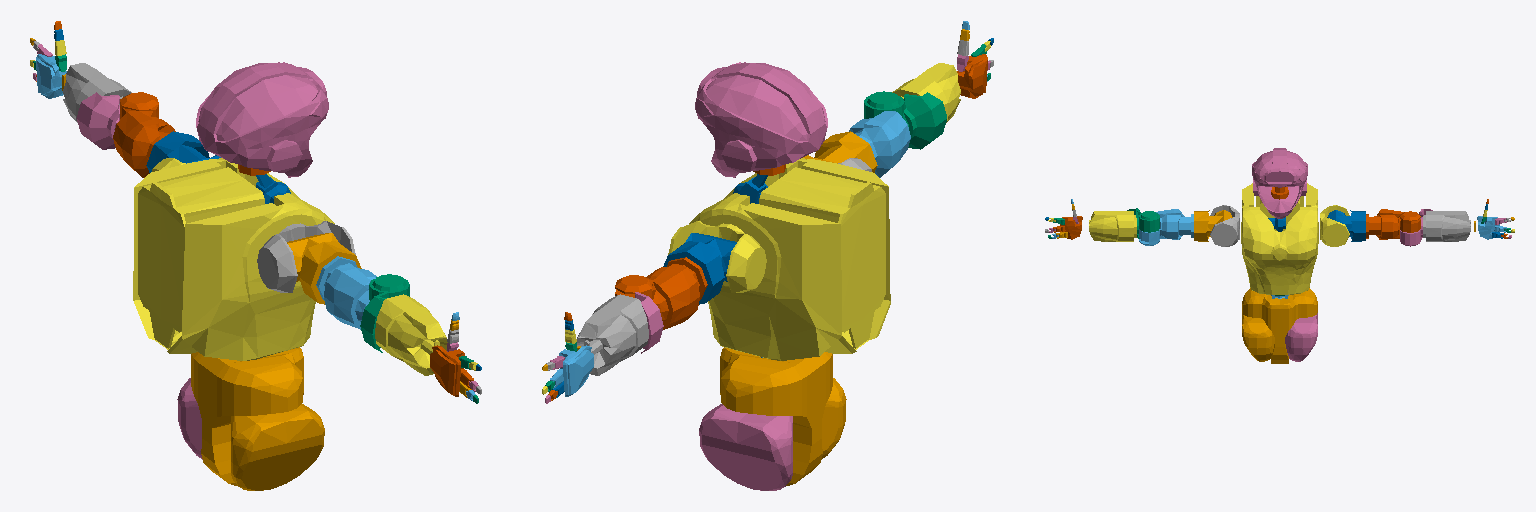
--- Facts derived from the render (not from the file) ---
3 views of the same robot in one strip: view 1: azimuth 30°, elevation 25°; view 2: azimuth 150°, elevation 25°; view 3: azimuth 270°, elevation 25° (orthographic).
Robot: valkyrie — 70 links, 69 joints (58 revolute, 11 fixed); root link pelvis; default pose: all joints at 0.
Links seen in each view (by area): view 1: torso, upperNeckPitchLink, pelvis, rightHipRollLink, rightForearmLink, leftShoulderYawLink, rightShoulderYawLink, rightShoulderPitchLink, rightShoulderRollLink, leftElbowPitchLink, leftForearmLink, rightElbowPitchLink (+5 smaller); view 2: torso, upperNeckPitchLink, pelvis, leftHipRollLink, leftForearmLink, leftShoulderYawLink, leftShoulderPitchLink, rightElbowPitchLink, rightShoulderYawLink, leftShoulderRollLink, rightForearmLink, rightShoulderRollLink (+5 smaller); view 3: torso, upperNeckPitchLink, pelvis, leftForearmLink, rightForearmLink, leftShoulderYawLink, rightShoulderYawLink, rightHipRollLink, leftHipRollLink, rightShoulderPitchLink, leftShoulderPitchLink, rightShoulderRollLink (+1 smaller).
Boxes of the visible links, bbox=[...] form: torso: bbox=[133, 158, 334, 360]; upperNeckPitchLink: bbox=[196, 62, 328, 177]; pelvis: bbox=[191, 347, 303, 485]; rightHipRollLink: bbox=[231, 404, 324, 490]; rightForearmLink: bbox=[375, 294, 447, 375]; leftShoulderYawLink: bbox=[113, 92, 175, 177]; rightShoulderYawLink: bbox=[316, 256, 376, 329]; rightShoulderPitchLink: bbox=[257, 221, 355, 292]; rightShoulderRollLink: bbox=[287, 233, 361, 304]; leftElbowPitchLink: bbox=[76, 92, 119, 149]; leftForearmLink: bbox=[63, 63, 131, 122]; rightElbowPitchLink: bbox=[360, 274, 409, 352]; torso: bbox=[689, 158, 890, 360]; upperNeckPitchLink: bbox=[695, 62, 827, 177]; pelvis: bbox=[720, 347, 832, 485]; leftHipRollLink: bbox=[699, 404, 792, 490]; leftForearmLink: bbox=[577, 294, 648, 375]; leftShoulderYawLink: bbox=[615, 257, 707, 329]; leftShoulderPitchLink: bbox=[668, 221, 766, 292]; rightElbowPitchLink: bbox=[864, 91, 946, 149]; rightShoulderYawLink: bbox=[849, 111, 910, 177]; leftShoulderRollLink: bbox=[663, 233, 736, 304]; rightForearmLink: bbox=[892, 63, 960, 122]; rightShoulderRollLink: bbox=[803, 131, 877, 172]; torso: bbox=[1241, 183, 1318, 294]; upperNeckPitchLink: bbox=[1252, 148, 1307, 218]; pelvis: bbox=[1242, 288, 1317, 363]; leftForearmLink: bbox=[1423, 211, 1470, 241]; rightForearmLink: bbox=[1089, 211, 1136, 241]; leftShoulderYawLink: bbox=[1366, 209, 1420, 239]; rightShoulderYawLink: bbox=[1139, 209, 1193, 245]; rightHipRollLink: bbox=[1242, 313, 1274, 361]; leftHipRollLink: bbox=[1285, 313, 1317, 361]; rightShoulderPitchLink: bbox=[1210, 205, 1239, 246]; leftShoulderPitchLink: bbox=[1320, 205, 1349, 246]; rightShoulderRollLink: bbox=[1194, 210, 1232, 241].
Bounding box of the posed robot: 0.4375 × 2.09 × 1.04 m (x, y, z).
Meshes: 57 distinct files referenced, 48 mesh visuals loaded (48 Collada DAE); not drawn: 11 (reference not matched to a file when rendering).

The robot description file, URDF, robot "valkyrie":
<?xml version="1.0" ?>
<!-- =================================================================================== -->
<!-- |    This document was autogenerated by xacro from ../model/robots/valkyrie_B_hw.xacro | -->
<!-- |    EDITING THIS FILE BY HAND IS NOT RECOMMENDED                                 | -->
<!-- =================================================================================== -->
<robot name="valkyrie" xmlns:xacro="http://ros.org/wiki/xacro">
  <link name="pelvis">
    <inertial>
      <mass value="8.22"/>
      <origin rpy="0 0 0" xyz="-0.00532 -0.003512 -0.0036"/>
      <inertia ixx="0.11866378" ixy="-0.000143482" ixz="0.003271293" iyy="0.097963425" iyz="0.002159545" izz="0.083854638"/>
    </inertial>
    <visual>
      <geometry>
        <mesh filename="package://val_description/model/meshes/pelvis/pelvis.dae"/>
      </geometry>
      <origin rpy="0.0 0.0 0.0" xyz="0.0 0.0 0.0"/>
      <material name="White"/>
    </visual>
    <collision>
      <geometry>
        <mesh filename="package://val_description/model/meshes/pelvis/pelvis.dae"/>
      </geometry>
      <origin rpy="0 0 0" xyz="0 0 0"/>
    </collision>
  </link>
  <link name="torsoYawLink">
    <inertial>
      <mass value="0.5"/>
      <origin rpy="0 0 0" xyz="0.000000 0.000000 -0.010000"/>
      <inertia ixx="0.000608427" ixy="-1.172e-06" ixz="1.647e-06" iyy="0.000620328" iyz="-2.33e-07" izz="0.001078108"/>
    </inertial>
    <visual>
      <geometry>
        <mesh filename="package://val_description/model/meshes/torso/torsoyaw.dae"/>
      </geometry>
      <origin rpy="0.0 0.0 0.0" xyz="0.0 0.0 0.0"/>
      <material name="White"/>
    </visual>
    <collision>
      <geometry>
        <mesh filename="package://val_description/model/meshes/torso/torsoyaw.dae"/>
      </geometry>
      <origin rpy="0 0 0" xyz="0 0 0"/>
    </collision>
  </link>
  <link name="torsoPitchLink">
    <inertial>
      <mass value="0.1"/>
      <origin rpy="0 0 0" xyz="0.000000 0.000000  0.005000"/>
      <inertia ixx="3.032e-05" ixy="0.0" ixz="-1.145e-06" iyy="2.1274e-05" iyz="0.0" izz="2.8285e-05"/>
    </inertial>
    <visual>
      <geometry>
        <mesh filename="package://val_description/model/meshes/torso/torsopitch.dae"/>
      </geometry>
      <origin rpy="0.0 0.0 0.0" xyz="0.0 0.0 0.0"/>
      <material name="White"/>
    </visual>
    <collision>
      <geometry>
        <mesh filename="package://val_description/model/meshes/torso/torsopitch.dae"/>
      </geometry>
      <origin rpy="0 0 0" xyz="0 0 0"/>
    </collision>
  </link>
  <link name="torso">
    <inertial>
      <mass value="39.47"/>
      <origin rpy="0 0 0" xyz="-0.095548 -0.003337 0.243098"/>
      <inertia ixx="0.87326933" ixy="9.9563e-05" ixz="0.061345211" iyy="1.0108485" iyz="0.00181849" izz="0.77839801"/>
    </inertial>
    <visual>
      <geometry>
        <mesh filename="package://val_description/model/meshes/torso/torso.dae"/>
      </geometry>
      <origin rpy="0.0 0.0 0.0" xyz="0.0 0.0 0.0"/>
      <material name="White"/>
    </visual>
    <collision>
      <geometry>
        <mesh filename="package://val_description/model/meshes/torso/torso.dae"/>
      </geometry>
      <origin rpy="0 0 0" xyz="0 0 0"/>
    </collision>
  </link>
  <joint name="torsoYaw" type="revolute">
    <origin rpy="0.0 0.0 0.0" xyz="0.0 0.0 0.0"/>
    <axis xyz="0 0 1"/>
    <parent link="pelvis"/>
    <child link="torsoYawLink"/>
    <limit effort="190" lower="-1.329" upper="1.181" velocity="5.89"/>
    <controller_gains Kd="400" Kp="20000"/>
    <dynamics damping="0.1" friction="0.0"/>
  </joint>
  <gazebo reference="torsoYaw">
    <provideFeedback>1</provideFeedback>
    <implicitSpringDamper>1</implicitSpringDamper>
  </gazebo>
  <joint name="torsoPitch" type="revolute">
    <origin rpy="0.0 0.0 0.0" xyz="0.04191 0.0 0.0"/>
    <axis xyz="0 1 0"/>
    <parent link="torsoYawLink"/>
    <child link="torsoPitchLink"/>
    <limit effort="150" lower="-0.13" upper="0.666" velocity="9"/>
    <controller_gains Kd="400" Kp="20000"/>
    <dynamics damping="0.1" friction="0.0"/>
  </joint>
  <gazebo reference="torsoPitch">
    <provideFeedback>1</provideFeedback>
    <implicitSpringDamper>1</implicitSpringDamper>
  </gazebo>
  <joint name="torsoRoll" type="revolute">
    <origin rpy="0.0 0.0 0.0" xyz="0.0 0.0 0.0203"/>
    <axis xyz="1 0 0"/>
    <parent link="torsoPitchLink"/>
    <child link="torso"/>
    <limit effort="150" lower="-0.23" upper="0.255" velocity="9"/>
    <controller_gains Kd="400" Kp="20000"/>
    <dynamics damping="0.1" friction="0.0"/>
  </joint>
  <gazebo reference="torsoRoll">
    <provideFeedback>1</provideFeedback>
    <implicitSpringDamper>1</implicitSpringDamper>
  </gazebo>
  <link name="lowerNeckPitchLink">
    <inertial>
      <mass value="1.05"/>
      <origin rpy="0 0 0" xyz="-0.020000 0.000000  0.040000"/>
      <inertia ixx="0.001470716" ixy="-0.000126021" ixz="0.000632521" iyy="0.001851919" iyz="0.000243012" izz="0.000832117"/>
    </inertial>
    <visual>
      <geometry>
        <mesh filename="package://val_description/model/meshes/head/neckj1.dae"/>
      </geometry>
      <origin rpy="0.0 0.0 0.0" xyz="0.0 0.0 0.0"/>
      <material name="White"/>
    </visual>
    <collision>
      <geometry>
        <mesh filename="package://val_description/model/meshes/head/neckj1.dae"/>
      </geometry>
      <origin rpy="0 0 0" xyz="0 0 0"/>
    </collision>
  </link>
  <link name="neckYawLink">
    <inertial>
      <mass value="1.4"/>
      <origin rpy="0 0 0" xyz="-0.030000  -0.010000 0.150000"/>
      <inertia ixx="0.001997698" ixy="-0.000180062" ixz="0.000723677" iyy="0.002919928" iyz="0.000246467" izz="0.002119751"/>
    </inertial>
    <visual>
      <geometry>
        <mesh filename="package://val_description/model/meshes/head/neckj2.dae"/>
      </geometry>
      <origin rpy="0.0 0.0 0.0" xyz="0.0 0.0 0.0"/>
      <material name="White"/>
    </visual>
    <collision>
      <geometry>
        <mesh filename="package://val_description/model/meshes/head/neckj2.dae"/>
      </geometry>
      <origin rpy="0 0 0" xyz="0 0 0"/>
    </collision>
  </link>
  <link name="upperNeckPitchLink">
    <inertial>
      <mass value="4.59"/>
      <origin rpy="0 0 0" xyz="0.100912 0.005783 0.034787"/>
      <inertia ixx="0.039847525" ixy="-0.000470418" ixz="-0.002829842" iyy="0.041418564" iyz="-0.000782564" izz="0.036841236"/>
    </inertial>
    <visual>
      <geometry>
        <mesh filename="package://val_description/model/meshes/head/head_multisense_no_visor.dae"/>
      </geometry>
      <origin rpy="0.0 0.0 0.0" xyz="0.0 0.0 0.0"/>
      <material name="White"/>
    </visual>
    <collision>
      <geometry>
        <mesh filename="package://val_description/model/meshes/head/head_multisense_no_visor.dae"/>
      </geometry>
      <origin rpy="0 0 0" xyz="0 0 0"/>
    </collision>
  </link>
  <joint name="lowerNeckPitch" type="revolute">
    <origin rpy="0.0 0.0 0.0" xyz="0.0203518 0.0 0.33845"/>
    <axis xyz="0 1 0"/>
    <parent link="torso"/>
    <child link="lowerNeckPitchLink"/>
    <limit effort="26" lower="0" upper="1.162" velocity="5"/>
    <controller_gains Kd="0" Kp="20000"/>
    <dynamics damping="0.1" friction="0.0"/>
  </joint>
  <gazebo reference="lowerNeckPitch">
    <provideFeedback>1</provideFeedback>
    <implicitSpringDamper>1</implicitSpringDamper>
  </gazebo>
  <joint name="neckYaw" type="revolute">
    <origin rpy="0.0 0.0 0.0" xyz="-0.051924 0.0 0.0"/>
    <axis xyz="0 0 1"/>
    <parent link="lowerNeckPitchLink"/>
    <child link="neckYawLink"/>
    <limit effort="26" lower="-1.04719755" upper="1.04719755" velocity="5"/>
    <controller_gains Kd="0" Kp="20000"/>
    <dynamics damping="0.1" friction="0.0"/>
  </joint>
  <gazebo reference="neckYaw">
    <provideFeedback>1</provideFeedback>
    <implicitSpringDamper>1</implicitSpringDamper>
  </gazebo>
  <joint name="upperNeckPitch" type="revolute">
    <origin rpy="0.0 0.0 0.0" xyz="-0.06 0 0.195997"/>
    <axis xyz="0 1 0"/>
    <parent link="neckYawLink"/>
    <child link="upperNeckPitchLink"/>
    <limit effort="26" lower="-0.872" upper="0.0" velocity="5"/>
    <controller_gains Kd="0" Kp="20000"/>
    <dynamics damping="0.1" friction="0.0"/>
  </joint>
  <gazebo reference="upperNeckPitch">
    <provideFeedback>1</provideFeedback>
    <implicitSpringDamper>1</implicitSpringDamper>
  </gazebo>
  <link name="rightShoulderPitchLink">
    <inertial>
      <mass value="2.65"/>
      <origin rpy="0 0 0" xyz="-0.012000 -0.251 0.000000"/>
      <inertia ixx="0.013718167" ixy="0.0" ixz="0.0" iyy="0.010502833" iyz="0.0" izz="0.014806433"/>
    </inertial>
    <visual>
      <geometry>
        <mesh filename="package://val_description/model/meshes/arms/aj1_right.dae"/>
      </geometry>
      <origin rpy="0.0 0.0 0.0" xyz="0.0 0.0 0.0"/>
      <material name="Gold"/>
    </visual>
    <collision>
      <geometry>
        <mesh filename="package://val_description/model/meshes/arms/aj1_right.dae"/>
      </geometry>
      <origin rpy="0 0 0" xyz="0 0 0"/>
    </collision>
  </link>
  <link name="rightShoulderRollLink">
    <inertial>
      <mass value="3.97"/>
      <origin rpy="0 0 0" xyz="-0.008513 -0.02068 0.001088"/>
      <inertia ixx="0.009494119" ixy="-6.7294e-05" ixz="3.7177e-05" iyy="0.007680534" iyz="8.874e-06" izz="0.011454772"/>
    </inertial>
    <visual>
      <geometry>
        <mesh filename="package://val_description/model/meshes/arms/aj2_right.dae"/>
      </geometry>
      <origin rpy="0.0 0.0 0.0" xyz="0.0 0.0 0.0"/>
      <material name="White"/>
    </visual>
    <collision>
      <geometry>
        <mesh filename="package://val_description/model/meshes/arms/aj2_right.dae"/>
      </geometry>
      <origin rpy="0 0 0" xyz="0 0 0"/>
    </collision>
  </link>
  <link name="rightShoulderYawLink">
    <inertial>
      <mass value="3.085"/>
      <origin rpy="0 0 0" xyz="-0.004304 -0.209832 -0.007295"/>
      <inertia ixx="0.039355177" ixy="0.007827077" ixz="0.000753947" iyy="0.004905765" iyz="0.002723873" izz="0.041879481"/>
    </inertial>
    <visual>
      <geometry>
        <mesh filename="package://val_description/model/meshes/arms/aj3_right.dae"/>
      </geometry>
      <origin rpy="0.0 0.0 0.0" xyz="0.0 0.0 0.0"/>
      <material name="White"/>
    </visual>
    <collision>
      <geometry>
        <mesh filename="package://val_description/model/meshes/arms/aj3_right.dae"/>
      </geometry>
      <origin rpy="0 0 0" xyz="0 0 0"/>
    </collision>
  </link>
  <link name="rightElbowPitchLink">
    <inertial>
      <mass value="1.83"/>
      <origin rpy="0 0 0" xyz="-0.020344 -0.014722 -0.022300"/>
      <inertia ixx="0.004285137" ixy="0.000408334" ixz="-0.003326627" iyy="0.008440601" iyz="0.000140731" izz="0.007469454"/>
    </inertial>
    <visual>
      <geometry>
        <mesh filename="package://val_description/model/meshes/arms/aj4_right.dae"/>
      </geometry>
      <origin rpy="0.0 0.0 0.0" xyz="0.0 0.0 0.0"/>
      <material name="Gold"/>
    </visual>
    <collision>
      <geometry>
        <mesh filename="package://val_description/model/meshes/arms/aj4_right.dae"/>
      </geometry>
      <origin rpy="0 0 0" xyz="0 0 0"/>
    </collision>
  </link>
  <joint name="rightShoulderPitch" type="revolute">
    <origin rpy="0.0 0.0 0.0" xyz="-0.0316 0.0 0.2984"/>
    <axis xyz="0 1 0"/>
    <parent link="torso"/>
    <child link="rightShoulderPitchLink"/>
    <limit effort="190" lower="-2.85" upper="2.0" velocity="5.89"/>
    <controller_gains Kd="400" Kp="20000"/>
    <dynamics damping="0.1" friction="0.0"/>
  </joint>
  <gazebo reference="rightShoulderPitch">
    <provideFeedback>1</provideFeedback>
    <implicitSpringDamper>1</implicitSpringDamper>
  </gazebo>
  <joint name="rightShoulderRoll" type="revolute">
    <origin rpy="0.0 0.0 0.0" xyz="0.0 -0.2499 0.0"/>
    <axis xyz="1 0 0"/>
    <parent link="rightShoulderPitchLink"/>
    <child link="rightShoulderRollLink"/>
    <limit effort="190" lower="-1.266" upper="1.519" velocity="5.89"/>
    <controller_gains Kd="400" Kp="20000"/>
    <dynamics damping="0.1" friction="0.0"/>
  </joint>
  <gazebo reference="rightShoulderRoll">
    <provideFeedback>1</provideFeedback>
    <implicitSpringDamper>1</implicitSpringDamper>
  </gazebo>
  <joint name="rightShoulderYaw" type="revolute">
    <origin rpy="0.0 0.0 0.0" xyz="0.0 0.0 0.0"/>
    <axis xyz="0 1 0"/>
    <parent link="rightShoulderRollLink"/>
    <child link="rightShoulderYawLink"/>
    <limit effort="65" lower="-3.1" upper="2.18" velocity="11.5"/>
    <controller_gains Kd="400" Kp="20000"/>
    <dynamics damping="0.1" friction="0.0"/>
  </joint>
  <gazebo reference="rightShoulderYaw">
    <provideFeedback>1</provideFeedback>
    <implicitSpringDamper>1</implicitSpringDamper>
  </gazebo>
  <joint name="rightElbowPitch" type="revolute">
    <origin rpy="0.0 0.0 0.0" xyz="0.0254 -0.33 0.0"/>
    <axis xyz="0 0 1"/>
    <parent link="rightShoulderYawLink"/>
    <child link="rightElbowPitchLink"/>
    <limit effort="65" lower="-0.12" upper="2.174" velocity="11.5"/>
    <controller_gains Kd="400" Kp="20000"/>
    <dynamics damping="0.1" friction="0.0"/>
  </joint>
  <gazebo reference="rightElbowPitch">
    <provideFeedback>1</provideFeedback>
    <implicitSpringDamper>1</implicitSpringDamper>
  </gazebo>
  <link name="rightForearmLink">
    <inertial>
      <mass value="2.476"/>
      <origin rpy="0 0 0" xyz="0.015000 -0.13 0.019564"/>
      <inertia ixx="0.015011" ixy="-0.001300853" ixz="-0.000727141" iyy="0.005071567" iyz="-0.001695416" izz="0.011365657"/>
    </inertial>
    <visual>
      <geometry>
        <mesh filename="package://val_description/model/meshes/arms/aj5_right.dae"/>
      </geometry>
      <origin rpy="0.0 0.0 0.0" xyz="0.0 0.0 0.0"/>
      <material name="White"/>
    </visual>
    <collision>
      <geometry>
        <mesh filename="package://val_description/model/meshes/arms/aj5_right.dae"/>
      </geometry>
      <origin rpy="0 0 0" xyz="0 0 0"/>
    </collision>
  </link>
  <link name="rightWristRollLink">
    <inertial>
      <mass value="0.14"/>
      <origin rpy="0 0 0" xyz="0 -0.0 0"/>
      <inertia ixx="3.0251e-05" ixy="-1.25e-07" ixz="-3.6e-08" iyy="3.772e-05" iyz="0.0" izz="9.395e-06"/>
    </inertial>
    <visual>
      <geometry>
        <mesh filename="package://val_description/model/meshes/arms/aj6_right.dae"/>
      </geometry>
      <origin rpy="0.0 0.0 0.0" xyz="0.0 0.0 0.0"/>
      <material name="White"/>
    </visual>
    <collision>
      <geometry>
        <mesh filename="package://val_description/model/meshes/arms/aj6_right.dae"/>
      </geometry>
      <origin rpy="0 0 0" xyz="0 0 0"/>
    </collision>
  </link>
  <link name="rightPalm">
    <inertial>
      <mass value="0.712"/>
      <origin rpy="0 0 0" xyz="0.002954 -0.052034 -0.000236"/>
      <inertia ixx="0.000943493" ixy="3.4393e-05" ixz="-3.8828e-05" iyy="0.000711024" iyz="2.3429e-05" izz="0.000610199"/>
    </inertial>
    <visual>
      <geometry>
        <mesh filename="package://val_description/model/meshes/arms/palm_right.dae"/>
      </geometry>
      <origin rpy="0.0 0.0 0.0" xyz="0.0 0.0 0.0"/>
      <material name="Gold"/>
    </visual>
    <collision>
      <geometry>
        <mesh filename="package://val_description/model/meshes/arms/palm_right.dae"/>
      </geometry>
      <origin rpy="0 0 0" xyz="0 0 0"/>
    </collision>
  </link>
  <joint name="rightForearmYaw" type="revolute">
    <origin rpy="0.0 0.0 0.0" xyz="-0.0254 0 0"/>
    <axis xyz="0 1 0"/>
    <parent link="rightElbowPitchLink"/>
    <child link="rightForearmLink"/>
    <limit effort="26" lower="-2.019" upper="3.14" velocity="5"/>
    <controller_gains Kd="0" Kp="20000"/>
    <dynamics damping="0.1" friction="0.0"/>
  </joint>
  <gazebo reference="rightForearmYaw">
    <provideFeedback>1</provideFeedback>
    <implicitSpringDamper>1</implicitSpringDamper>
  </gazebo>
  <joint name="rightWristRoll" type="revolute">
    <origin rpy="0.0 0.0 0.0" xyz="0.0 -0.2871 0.0"/>
    <axis xyz="1 0 0"/>
    <parent link="rightForearmLink"/>
    <child link="rightWristRollLink"/>
    <limit effort="14" lower="-0.625" upper="0.62" velocity="1"/>
    <controller_gains Kd="400" Kp="20000"/>
    <dynamics damping="0.1" friction="0.0"/>
  </joint>
  <gazebo reference="rightWristRoll">
    <provideFeedback>1</provideFeedback>
    <implicitSpringDamper>1</implicitSpringDamper>
  </gazebo>
  <joint name="rightWristPitch" type="revolute">
    <origin rpy="0.0 0.0 0.0" xyz="0.0 0.0 0.0"/>
    <axis xyz="0 0 1"/>
    <parent link="rightWristRollLink"/>
    <child link="rightPalm"/>
    <limit effort="14" lower="-0.49" upper="0.36" velocity="1"/>
    <controller_gains Kd="400" Kp="20000"/>
    <dynamics damping="0.1" friction="0.0"/>
  </joint>
  <gazebo reference="rightWristPitch">
    <provideFeedback>1</provideFeedback>
    <implicitSpringDamper>1</implicitSpringDamper>
  </gazebo>
  <link name="rightThumbRollLink">
    <inertial>
      <mass value="0.017"/>
      <origin rpy="0 0 0" xyz="0 -0.0 0.01"/>
      <inertia ixx="2.7778767e-06" ixy="5.6718533e-09" ixz="-9.5523207e-08" iyy="3.5462642e-06" iyz="3.663718e-08" izz="1.3553297e-06"/>
    </inertial>
    <visual>
      <geometry>
        <mesh filename="package://val_description/model/meshes/fingers/thumbj1_right.dae"/>
      </geometry>
      <origin rpy="0.0 0.0 0.0" xyz="0.0 0.0 0.0"/>
      <material name="Gold"/>
    </visual>
    <collision>
      <geometry>
        <mesh filename="package://val_description/model/meshes/fingers/thumbj1_right.dae"/>
      </geometry>
      <origin rpy="0 0 0" xyz="0 0 0"/>
    </collision>
  </link>
  <link name="rightThumbPitch1Link">
    <inertial>
      <mass value="0.02"/>
      <origin rpy="0 0 0" xyz="0.0 -0.005 0.02"/>
      <inertia ixx="4.239e-06" ixy="0.0" ixz="-0.0" iyy="4.582e-06" iyz="0.0" izz="1.47e-06"/>
    </inertial>
    <visual>
      <geometry>
        <mesh filename="package://val_description/model/meshes/fingers/thumbj2_right.dae"/>
      </geometry>
      <origin rpy="0.0 0.0 0.0" xyz="0.0 0.0 0.0"/>
      <material name="Gold"/>
    </visual>
    <collision>
      <geometry>
        <mesh filename="package://val_description/model/meshes/fingers/thumbj2_right.dae"/>
      </geometry>
      <origin rpy="0 0 0" xyz="0 0 0"/>
    </collision>
  </link>
  <link name="rightThumbPitch2Link">
    <inertial>
      <mass value="0.013"/>
      <origin rpy="0 0 0" xyz="0 -0.004 0.017"/>
      <inertia ixx="1.266e-06" ixy="0.0" ixz="-0.0" iyy="1.503e-06" iyz="-0.0" izz="6.99e-07"/>
    </inertial>
    <visual>
      <geometry>
        <mesh filename="package://val_description/model/meshes/fingers/thumbj3_right.dae"/>
      </geometry>
      <origin rpy="0.0 0.0 0.0" xyz="0.0 0.0 0.0"/>
      <material name="Gold"/>
    </visual>
    <collision>
      <geometry>
        <mesh filename="package://val_description/model/meshes/fingers/thumbj3_right.dae"/>
      </geometry>
      <origin rpy="0 0 0" xyz="0 0 0"/>
    </collision>
  </link>
  <link name="rightThumbPitch3Link">
    <inertial>
      <mass value="0.006"/>
      <origin rpy="0 0 0" xyz="0 -0.004 0.01"/>
      <inertia ixx="3.22e-07" ixy="0.0" ixz="0.0" iyy="4.06e-07" iyz="0.0" izz="2.1e-07"/>
    </inertial>
    <visual>
      <geometry>
        <mesh filename="package://val_description/model/meshes/fingers/thumbj4_right.dae"/>
      </geometry>
      <origin rpy="0.0 0.0 0.0" xyz="0.0 0.0 0.0"/>
      <material name="Gold"/>
    </visual>
    <collision>
      <geometry>
        <mesh filename="package://val_description/model/meshes/fingers/thumbj4_right.dae"/>
      </geometry>
      <origin rpy="0 0 0" xyz="0 0 0"/>
    </collision>
  </link>
  <joint name="rightThumbRoll" type="revolute">
    <origin rpy="0.3491 0.0 0.0" xyz="0.0049 -0.0351 0.0228"/>
    <axis xyz="0 1 0"/>
    <parent link="rightPalm"/>
    <child link="rightThumbRollLink"/>
    <limit effort="10" lower="0.0" upper="2.356" velocity="1"/>
    <dynamics damping="1.0" friction="0.0"/>
  </joint>
  <gazebo reference="rightThumbRoll">
    <provideFeedback>1</provideFeedback>
    <implicitSpringDamper>1</implicitSpringDamper>
  </gazebo>
  <joint name="rightThumbPitch1" type="revolute">
    <origin rpy="-0.3491 0.0 0.0" xyz="0.0 0.0 0.0229"/>
    <axis xyz="1 0 0"/>
    <parent link="rightThumbRollLink"/>
    <child link="rightThumbPitch1Link"/>
    <limit effort="10" lower="0.0" upper="1.658" velocity="1"/>
    <dynamics damping="1.0" friction="0.0"/>
  </joint>
  <gazebo reference="rightThumbPitch1">
    <provideFeedback>1</provideFeedback>
    <implicitSpringDamper>1</implicitSpringDamper>
  </gazebo>
  <joint name="rightThumbPitch2" type="revolute">
    <origin rpy="0.0 0.0 0.0" xyz="0.0 -0.0066 0.0375"/>
    <axis xyz="1 0 0"/>
    <parent link="rightThumbPitch1Link"/>
    <child link="rightThumbPitch2Link"/>
    <limit effort="10" lower="0.0" upper="1.92" velocity="1"/>
    <dynamics damping="1.0" friction="0.0"/>
  </joint>
  <gazebo reference="rightThumbPitch2">
    <provideFeedback>1</provideFeedback>
    <implicitSpringDamper>1</implicitSpringDamper>
  </gazebo>
  <joint name="rightThumbPitch3" type="revolute">
    <origin rpy="0.0 0.0 0.0" xyz="0.0 -0.0049 0.0275"/>
    <axis xyz="1 0 0"/>
    <parent link="rightThumbPitch2Link"/>
    <child link="rightThumbPitch3Link"/>
    <limit effort="10" lower="0.0" upper="1.57" velocity="1"/>
    <dynamics damping="1.0" friction="0.0"/>
  </joint>
  <gazebo reference="rightThumbPitch3">
    <provideFeedback>1</provideFeedback>
    <implicitSpringDamper>1</implicitSpringDamper>
  </gazebo>
  <link name="rightIndexFingerPitch1Link">
    <inertial>
      <mass value="0.02"/>
      <origin rpy="0 0 0" xyz="0 -0.02 0"/>
      <inertia ixx="4.232e-06" ixy="-6e-08" ixz="-8e-09" iyy="1.215e-06" iyz="-7e-09" izz="3.892e-06"/>
    </inertial>
    <visual>
      <geometry>
        <mesh filename="package://val_description/model/meshes/fingers/indexj1_right.dae"/>
      </geometry>
      <origin rpy="0.0 0.0 0.0" xyz="0.0 0.0 0.0"/>
      <material name="Gold"/>
    </visual>
    <collision>
      <geometry>
        <mesh filename="package://val_description/model/meshes/fingers/indexj1_right.dae"/>
      </geometry>
      <origin rpy="0 0 0" xyz="0 0 0"/>
    </collision>
  </link>
  <link name="rightIndexFingerPitch2Link">
    <inertial>
      <mass value="0.018"/>
      <origin rpy="0 0 0" xyz="0 -0.013 0"/>
      <inertia ixx="1.562e-06" ixy="-1.7e-08" ixz="-1.3e-08" iyy="7.22e-07" iyz="3.1e-08" izz="1.255e-06"/>
    </inertial>
    <visual>
      <geometry>
        <mesh filename="package://val_description/model/meshes/fingers/indexj2_right.dae"/>
      </geometry>
      <origin rpy="0.0 0.0 0.0" xyz="0.0 0.0 0.0"/>
      <material name="Gold"/>
    </visual>
    <collision>
      <geometry>
        <mesh filename="package://val_description/model/meshes/fingers/indexj2_right.dae"/>
      </geometry>
      <origin rpy="0 0 0" xyz="0 0 0"/>
    </collision>
  </link>
  <link name="rightIndexFingerPitch3Link">
    <inertial>
      <mass value="0.01"/>
      <origin rpy="0 0 0" xyz="0 -0.01 0"/>
      <inertia ixx="6.02e-07" ixy="-2.4e-08" ixz="0.0" iyy="2.09e-07" iyz="1.7e-08" izz="5.02e-07"/>
    </inertial>
    <visual>
      <geometry>
        <mesh filename="package://val_description/model/meshes/fingers/indexj3_right.dae"/>
      </geometry>
      <origin rpy="0.0 0.0 0.0" xyz="0.0 0.0 0.0"/>
      <material name="Gold"/>
    </visual>
    <collision>
      <geometry>
        <mesh filename="package://val_description/model/meshes/fingers/indexj3_right.dae"/>
      </geometry>
      <origin rpy="0 0 0" xyz="0 0 0"/>
    </collision>
  </link>
  <joint name="rightIndexFingerPitch1" type="revolute">
    <origin rpy="-0.1745 0.0 0.0" xyz="0.0022 -0.0976 0.0235"/>
    <axis xyz="0 0 1"/>
    <parent link="rightPalm"/>
    <child link="rightIndexFingerPitch1Link"/>
    <limit effort="10" lower="0.0" upper="1.57" velocity="1"/>
    <dynamics damping="1.0" friction="0.0"/>
  </joint>
  <gazebo reference="rightIndexFingerPitch1">
    <provideFeedback>1</provideFeedback>
    <implicitSpringDamper>1</implicitSpringDamper>
  </gazebo>
  <joint name="rightIndexFingerPitch2" type="revolute">
    <origin rpy="0.0 0.0 0.0" xyz="0.0 -0.0381 0.0"/>
    <axis xyz="0 0 1"/>
    <parent link="rightIndexFingerPitch1Link"/>
    <child link="rightIndexFingerPitch2Link"/>
    <limit effort="10" lower="0.0" upper="1.658" velocity="1"/>
    <dynamics damping="1.0" friction="0.0"/>
  </joint>
  <gazebo reference="rightIndexFingerPitch2">
    <provideFeedback>1</provideFeedback>
    <implicitSpringDamper>1</implicitSpringDamper>
  </gazebo>
  <joint name="rightIndexFingerPitch3" type="revolute">
    <origin rpy="0.0 0.0 0.0" xyz="0.0 -0.0229 0"/>
    <axis xyz="0 0 1"/>
    <parent link="rightIndexFingerPitch2Link"/>
    <child link="rightIndexFingerPitch3Link"/>
    <limit effort="10" lower="0.0" upper="1.92" velocity="1"/>
    <dynamics damping="1.0" friction="0.0"/>
  </joint>
  <gazebo reference="rightIndexFingerPitch3">
    <provideFeedback>1</provideFeedback>
    <implicitSpringDamper>1</implicitSpringDamper>
  </gazebo>
  <link name="rightMiddleFingerPitch1Link">
    <inertial>
      <mass value="0.02"/>
      <origin rpy="0 0 0" xyz="0 -0.02 0"/>
      <inertia ixx="5.148e-06" ixy="-4.2e-08" ixz="-1.1e-08" iyy="1.322e-06" iyz="-4e-09" izz="4.592e-06"/>
    </inertial>
    <visual>
      <geometry>
        <mesh filename="package://val_description/model/meshes/fingers/middlej1_right.dae"/>
      </geometry>
      <origin rpy="0.0 0.0 0.0" xyz="0.0 0.0 0.0"/>
      <material name="Gold"/>
    </visual>
    <collision>
      <geometry>
        <mesh filename="package://val_description/model/meshes/fingers/middlej1_right.dae"/>
      </geometry>
      <origin rpy="0 0 0" xyz="0 0 0"/>
    </collision>
  </link>
  <link name="rightMiddleFingerPitch2Link">
    <inertial>
      <mass value="0.011"/>
      <origin rpy="0 0 0" xyz="0 -0.013 0"/>
      <inertia ixx="1.97e-06" ixy="3.4e-08" ixz="-1.1e-08" iyy="5.54e-07" iyz="-7.8e-08" izz="2.272e-06"/>
    </inertial>
    <visual>
      <geometry>
        <mesh filename="package://val_description/model/meshes/fingers/middlej2_right.dae"/>
      </geometry>
      <origin rpy="0.0 0.0 0.0" xyz="0.0 0.0 0.0"/>
      <material name="Gold"/>
    </visual>
    <collision>
      <geometry>
        <mesh filename="package://val_description/model/meshes/fingers/middlej2_right.dae"/>
      </geometry>
      <origin rpy="0 0 0" xyz="0 0 0"/>
    </collision>
  </link>
  <link name="rightMiddleFingerPitch3Link">
    <inertial>
      <mass value="0.006"/>
      <origin rpy="0 0 0" xyz="0 -0.01 0"/>
      <inertia ixx="3.96e-07" ixy="-9e-09" ixz="-1e-09" iyy="1.6e-07" iyz="1.6e-08" izz="3.03e-07"/>
    </inertial>
    <visual>
      <geometry>
        <mesh filename="package://val_description/model/meshes/fingers/middlej3_right.dae"/>
      </geometry>
      <origin rpy="0.0 0.0 0.0" xyz="0.0 0.0 0.0"/>
      <material name="Gold"/>
    </visual>
    <collision>
      <geometry>
        <mesh filename="package://val_description/model/meshes/fingers/middlej3_right.dae"/>
      </geometry>
      <origin rpy="0 0 0" xyz="0 0 0"/>
    </collision>
  </link>
  <joint name="rightMiddleFingerPitch1" type="revolute">
    <origin rpy="0.1222 0.0 0.0" xyz="0.0022 -0.097 -0.0119"/>
    <axis xyz="0 0 1"/>
    <parent link="rightPalm"/>
    <child link="rightMiddleFingerPitch1Link"/>
    <limit effort="10" lower="0.0" upper="1.658" velocity="1"/>
    <dynamics damping="1.0" friction="0.0"/>
  </joint>
  <gazebo reference="rightMiddleFingerPitch1">
    <provideFeedback>1</provideFeedback>
    <implicitSpringDamper>1</implicitSpringDamper>
  </gazebo>
  <joint name="rightMiddleFingerPitch2" type="revolute">
    <origin rpy="0.0 0.0 0.0" xyz="0.0 -0.0381 0.0"/>
    <axis xyz="0 0 1"/>
    <parent link="rightMiddleFingerPitch1Link"/>
    <child link="rightMiddleFingerPitch2Link"/>
    <limit effort="10" lower="0.0" upper="1.92" velocity="1"/>
    <dynamics damping="1.0" friction="0.0"/>
  </joint>
  <gazebo reference="rightMiddleFingerPitch2">
    <provideFeedback>1</provideFeedback>
    <implicitSpringDamper>1</implicitSpringDamper>
  </gazebo>
  <joint name="rightMiddleFingerPitch3" type="revolute">
    <origin rpy="0.0 0.0 0.0" xyz="0.0 -0.0229 0.0"/>
    <axis xyz="0 0 1"/>
    <parent link="rightMiddleFingerPitch2Link"/>
    <child link="rightMiddleFingerPitch3Link"/>
    <limit effort="10" lower="0.0" upper="1.57" velocity="1"/>
    <dynamics damping="1.0" friction="0.0"/>
  </joint>
  <gazebo reference="rightMiddleFingerPitch3">
    <provideFeedback>1</provideFeedback>
    <implicitSpringDamper>1</implicitSpringDamper>
  </gazebo>
  <link name="rightPinkyPitch1Link">
    <inertial>
      <mass value="0.02"/>
      <origin rpy="0 0 0" xyz="0 -0.02 0"/>
      <inertia ixx="5.148e-06" ixy="-4.2e-08" ixz="-1.1e-08" iyy="1.322e-06" iyz="-4e-09" izz="4.592e-06"/>
    </inertial>
    <visual>
      <geometry>
        <mesh filename="package://val_description/model/meshes/fingers/pinkyj1_right.dae"/>
      </geometry>
      <origin rpy="0.0 0.0 0.0" xyz="0.0 0.0 0.0"/>
      <material name="Gold"/>
    </visual>
    <collision>
      <geometry>
        <mesh filename="package://val_description/model/meshes/fingers/pinkyj1_right.dae"/>
      </geometry>
      <origin rpy="0 0 0" xyz="0 0 0"/>
    </collision>
  </link>
  <link name="rightPinkyPitch2Link">
    <inertial>
      <mass value="0.011"/>
      <origin rpy="0 0 0" xyz="0 -0.013 0"/>
      <inertia ixx="1.97e-06" ixy="3.4e-08" ixz="-1.1e-08" iyy="5.54e-07" iyz="-7.8e-08" izz="2.272e-06"/>
    </inertial>
    <visual>
      <geometry>
        <mesh filename="package://val_description/model/meshes/fingers/pinkyj2_right.dae"/>
      </geometry>
      <origin rpy="0.0 0.0 0.0" xyz="0.0 0.0 0.0"/>
      <material name="Gold"/>
    </visual>
    <collision>
      <geometry>
        <mesh filename="package://val_description/model/meshes/fingers/pinkyj2_right.dae"/>
      </geometry>
      <origin rpy="0 0 0" xyz="0 0 0"/>
    </collision>
  </link>
  <link name="rightPinkyPitch3Link">
    <inertial>
      <mass value="0.006"/>
      <origin rpy="0 0 0" xyz="0 -0.01 0"/>
      <inertia ixx="3.96e-07" ixy="-9e-09" ixz="-1e-09" iyy="1.6e-07" iyz="1.6e-08" izz="3.03e-07"/>
    </inertial>
    <visual>
      <geometry>
        <mesh filename="package://val_description/model/meshes/fingers/pinkyj3_right.dae"/>
      </geometry>
      <origin rpy="0.0 0.0 0.0" xyz="0.0 0.0 0.0"/>
      <material name="Gold"/>
    </visual>
    <collision>
      <geometry>
        <mesh filename="package://val_description/model/meshes/fingers/pinkyj3_right.dae"/>
      </geometry>
      <origin rpy="0 0 0" xyz="0 0 0"/>
    </collision>
  </link>
  <joint name="rightPinkyPitch1" type="revolute">
    <origin rpy="0.1222 0.0 0.0" xyz="0.0022 -0.0838 -0.041"/>
    <axis xyz="0 0 1"/>
    <parent link="rightPalm"/>
    <child link="rightPinkyPitch1Link"/>
    <limit effort="10" lower="0.0" upper="1.57" velocity="1"/>
    <dynamics damping="1.0" friction="0.0"/>
  </joint>
  <gazebo reference="rightPinkyPitch1">
    <provideFeedback>1</provideFeedback>
    <implicitSpringDamper>1</implicitSpringDamper>
  </gazebo>
  <joint name="rightPinkyPitch2" type="revolute">
    <origin rpy="0.0 0.0 0.0" xyz="0.0 -0.0381 0.0"/>
    <axis xyz="0 0 1"/>
    <parent link="rightPinkyPitch1Link"/>
    <child link="rightPinkyPitch2Link"/>
    <limit effort="10" lower="0.0" upper="1.658" velocity="1"/>
    <dynamics damping="1.0" friction="0.0"/>
  </joint>
  <gazebo reference="rightPinkyPitch2">
    <provideFeedback>1</provideFeedback>
    <implicitSpringDamper>1</implicitSpringDamper>
  </gazebo>
  <joint name="rightPinkyPitch3" type="revolute">
    <origin rpy="0.0 0.0 0.0" xyz="0.0 -0.0229 0.0"/>
    <axis xyz="0 0 1"/>
    <parent link="rightPinkyPitch2Link"/>
    <child link="rightPinkyPitch3Link"/>
    <limit effort="10" lower="0.0" upper="1.92" velocity="1"/>
    <dynamics damping="1.0" friction="0.0"/>
  </joint>
  <gazebo reference="rightPinkyPitch3">
    <provideFeedback>1</provideFeedback>
    <implicitSpringDamper>1</implicitSpringDamper>
  </gazebo>
  <link name="leftShoulderPitchLink">
    <inertial>
      <mass value="2.65"/>
      <origin rpy="0 0 0" xyz="-0.012000 0.251 0.000000"/>
      <inertia ixx="0.013718167" ixy="0.0" ixz="0.0" iyy="0.010502833" iyz="0.0" izz="0.014806433"/>
    </inertial>
    <visual>
      <geometry>
        <mesh filename="package://val_description/model/meshes/arms/aj1_left.dae"/>
      </geometry>
      <origin rpy="0.0 0.0 0.0" xyz="0.0 0.0 0.0"/>
      <material name="Gold"/>
    </visual>
    <collision>
      <geometry>
        <mesh filename="package://val_description/model/meshes/arms/aj1_left.dae"/>
      </geometry>
      <origin rpy="0 0 0" xyz="0 0 0"/>
    </collision>
  </link>
  <link name="leftShoulderRollLink">
    <inertial>
      <mass value="3.97"/>
      <origin rpy="0 0 0" xyz="-0.008513 0.02068 0.001088"/>
      <inertia ixx="0.009494119" ixy="6.7294e-05" ixz="-3.7177e-05" iyy="0.007680534" iyz="8.874e-06" izz="0.011454772"/>
    </inertial>
    <visual>
      <geometry>
        <mesh filename="package://val_description/model/meshes/arms/aj2_left.dae"/>
      </geometry>
      <origin rpy="0.0 0.0 0.0" xyz="0.0 0.0 0.0"/>
      <material name="White"/>
    </visual>
    <collision>
      <geometry>
        <mesh filename="package://val_description/model/meshes/arms/aj2_left.dae"/>
      </geometry>
      <origin rpy="0 0 0" xyz="0 0 0"/>
    </collision>
  </link>
  <link name="leftShoulderYawLink">
    <inertial>
      <mass value="3.085"/>
      <origin rpy="0 0 0" xyz="-0.004304 0.209832 -0.007295"/>
      <inertia ixx="0.039355177" ixy="0.007827077" ixz="-0.000753947" iyy="0.004905765" iyz="-0.002723873" izz="0.041879481"/>
    </inertial>
    <visual>
      <geometry>
        <mesh filename="package://val_description/model/meshes/arms/aj3_left.dae"/>
      </geometry>
      <origin rpy="0.0 0.0 0.0" xyz="0.0 0.0 0.0"/>
      <material name="White"/>
    </visual>
    <collision>
      <geometry>
        <mesh filename="package://val_description/model/meshes/arms/aj3_left.dae"/>
      </geometry>
      <origin rpy="0 0 0" xyz="0 0 0"/>
    </collision>
  </link>
  <link name="leftElbowPitchLink">
    <inertial>
      <mass value="1.83"/>
      <origin rpy="0 0 0" xyz="-0.020344 0.014722 -0.022300"/>
      <inertia ixx="0.004285137" ixy="-0.000408334" ixz="0.003326627" iyy="0.008440601" iyz="0.000140731" izz="0.007469454"/>
    </inertial>
    <visual>
      <geometry>
        <mesh filename="package://val_description/model/meshes/arms/aj4_left.dae"/>
      </geometry>
      <origin rpy="0.0 0.0 0.0" xyz="0.0 0.0 0.0"/>
      <material name="Gold"/>
    </visual>
    <collision>
      <geometry>
        <mesh filename="package://val_description/model/meshes/arms/aj4_left.dae"/>
      </geometry>
      <origin rpy="0 0 0" xyz="0 0 0"/>
    </collision>
  </link>
  <joint name="leftShoulderPitch" type="revolute">
    <origin rpy="0.0 0.0 0.0" xyz="-0.0316 0.0 0.2984"/>
    <axis xyz="0 1 0"/>
    <parent link="torso"/>
    <child link="leftShoulderPitchLink"/>
    <limit effort="190" lower="-2.85" upper="2.0" velocity="5.89"/>
    <controller_gains Kd="400" Kp="20000"/>
    <dynamics damping="0.1" friction="0.0"/>
  </joint>
  <gazebo reference="leftShoulderPitch">
    <provideFeedback>1</provideFeedback>
    <implicitSpringDamper>1</implicitSpringDamper>
  </gazebo>
  <joint name="leftShoulderRoll" type="revolute">
    <origin rpy="0.0 0.0 0.0" xyz="0.0 0.2499 0.0"/>
    <axis xyz="1 0 0"/>
    <parent link="leftShoulderPitchLink"/>
    <child link="leftShoulderRollLink"/>
    <limit effort="190" lower="-1.519" upper="1.266" velocity="5.89"/>
    <controller_gains Kd="400" Kp="20000"/>
    <dynamics damping="0.1" friction="0.0"/>
  </joint>
  <gazebo reference="leftShoulderRoll">
    <provideFeedback>1</provideFeedback>
    <implicitSpringDamper>1</implicitSpringDamper>
  </gazebo>
  <joint name="leftShoulderYaw" type="revolute">
    <origin rpy="0.0 0.0 0.0" xyz="0.0 0.0 0.0"/>
    <axis xyz="0 1 0"/>
    <parent link="leftShoulderRollLink"/>
    <child link="leftShoulderYawLink"/>
    <limit effort="65" lower="-3.1" upper="2.18" velocity="11.5"/>
    <controller_gains Kd="400" Kp="20000"/>
    <dynamics damping="0.1" friction="0.0"/>
  </joint>
  <gazebo reference="leftShoulderYaw">
    <provideFeedback>1</provideFeedback>
    <implicitSpringDamper>1</implicitSpringDamper>
  </gazebo>
  <joint name="leftElbowPitch" type="revolute">
    <origin rpy="0.0 0.0 0.0" xyz="0.0254 0.33 0.0"/>
    <axis xyz="0 0 1"/>
    <parent link="leftShoulderYawLink"/>
    <child link="leftElbowPitchLink"/>
    <limit effort="65" lower="-2.174" upper="0.12" velocity="11.5"/>
    <controller_gains Kd="400" Kp="20000"/>
    <dynamics damping="0.1" friction="0.0"/>
  </joint>
  <gazebo reference="leftElbowPitch">
    <provideFeedback>1</provideFeedback>
    <implicitSpringDamper>1</implicitSpringDamper>
  </gazebo>
  <link name="leftForearmLink">
    <inertial>
      <mass value="2.476"/>
      <origin rpy="0 0 0" xyz="0.015000 0.13 0.019564"/>
      <inertia ixx="0.015011" ixy="0.001300853" ixz="0.000727141" iyy="0.005071567" iyz="-0.001695416" izz="0.011365657"/>
    </inertial>
    <visual>
      <geometry>
        <mesh filename="package://val_description/model/meshes/arms/aj5_left.dae"/>
      </geometry>
      <origin rpy="0.0 0.0 0.0" xyz="0.0 0.0 0.0"/>
      <material name="White"/>
    </visual>
    <collision>
      <geometry>
        <mesh filename="package://val_description/model/meshes/arms/aj5_left.dae"/>
      </geometry>
      <origin rpy="0 0 0" xyz="0 0 0"/>
    </collision>
  </link>
  <link name="leftWristRollLink">
    <inertial>
      <mass value="0.14"/>
      <origin rpy="0 0 0" xyz="0 0.0 0"/>
      <inertia ixx="3.0251e-05" ixy="1.25e-07" ixz="3.6e-08" iyy="3.772e-05" iyz="0.0" izz="9.395e-06"/>
    </inertial>
    <visual>
      <geometry>
        <mesh filename="package://val_description/model/meshes/arms/aj6_left.dae"/>
      </geometry>
      <origin rpy="0.0 0.0 0.0" xyz="0.0 0.0 0.0"/>
      <material name="White"/>
    </visual>
    <collision>
      <geometry>
        <mesh filename="package://val_description/model/meshes/arms/aj6_left.dae"/>
      </geometry>
      <origin rpy="0 0 0" xyz="0 0 0"/>
    </collision>
  </link>
  <link name="leftPalm">
    <inertial>
      <mass value="0.712"/>
      <origin rpy="0 0 0" xyz="0.002954 0.052034 -0.000236"/>
      <inertia ixx="0.000943493" ixy="3.4393e-05" ixz="3.8828e-05" iyy="0.000711024" iyz="-2.3429e-05" izz="0.000610199"/>
    </inertial>
    <visual>
      <geometry>
        <mesh filename="package://val_description/model/meshes/arms/palm_left.dae"/>
      </geometry>
      <origin rpy="0.0 0.0 0.0" xyz="0.0 0.0 0.0"/>
      <material name="Gold"/>
    </visual>
    <collision>
      <geometry>
        <mesh filename="package://val_description/model/meshes/arms/palm_left.dae"/>
      </geometry>
      <origin rpy="0 0 0" xyz="0 0 0"/>
    </collision>
  </link>
  <joint name="leftForearmYaw" type="revolute">
    <origin rpy="0.0 0.0 0.0" xyz="-0.0254 0 0"/>
    <axis xyz="0 1 0"/>
    <parent link="leftElbowPitchLink"/>
    <child link="leftForearmLink"/>
    <limit effort="26" lower="-2.019" upper="3.14" velocity="5"/>
    <controller_gains Kd="0" Kp="20000"/>
    <dynamics damping="0.1" friction="0.0"/>
  </joint>
  <gazebo reference="leftForearmYaw">
    <provideFeedback>1</provideFeedback>
    <implicitSpringDamper>1</implicitSpringDamper>
  </gazebo>
  <joint name="leftWristRoll" type="revolute">
    <origin rpy="0.0 0.0 0.0" xyz="0.0 0.2871 0.0"/>
    <axis xyz="1 0 0"/>
    <parent link="leftForearmLink"/>
    <child link="leftWristRollLink"/>
    <limit effort="14" lower="-0.62" upper="0.625" velocity="1"/>
    <controller_gains Kd="400" Kp="20000"/>
    <dynamics damping="0.1" friction="0.0"/>
  </joint>
  <gazebo reference="leftWristRoll">
    <provideFeedback>1</provideFeedback>
    <implicitSpringDamper>1</implicitSpringDamper>
  </gazebo>
  <joint name="leftWristPitch" type="revolute">
    <origin rpy="0.0 0.0 0.0" xyz="0.0 0.0 0.0"/>
    <axis xyz="0 0 1"/>
    <parent link="leftWristRollLink"/>
    <child link="leftPalm"/>
    <limit effort="14" lower="-0.36" upper="0.49" velocity="1"/>
    <controller_gains Kd="400" Kp="20000"/>
    <dynamics damping="0.1" friction="0.0"/>
  </joint>
  <gazebo reference="leftWristPitch">
    <provideFeedback>1</provideFeedback>
    <implicitSpringDamper>1</implicitSpringDamper>
  </gazebo>
  <link name="leftThumbRollLink">
    <inertial>
      <mass value="0.017"/>
      <origin rpy="0 0 0" xyz="0 0.0 0.01"/>
      <inertia ixx="2.7778767e-06" ixy="5.6718533e-09" ixz="9.5523207e-08" iyy="3.5462642e-06" iyz="-3.663718e-08" izz="1.3553297e-06"/>
    </inertial>
    <visual>
      <geometry>
        <mesh filename="package://val_description/model/meshes/fingers/thumbj1_left.dae"/>
      </geometry>
      <origin rpy="0.0 0.0 0.0" xyz="0.0 0.0 0.0"/>
      <material name="Gold"/>
    </visual>
    <collision>
      <geometry>
        <mesh filename="package://val_description/model/meshes/fingers/thumbj1_left.dae"/>
      </geometry>
      <origin rpy="0 0 0" xyz="0 0 0"/>
    </collision>
  </link>
  <link name="leftThumbPitch1Link">
    <inertial>
      <mass value="0.02"/>
      <origin rpy="0 0 0" xyz="0.0 0.005 0.02"/>
      <inertia ixx="4.239e-06" ixy="0.0" ixz="0.0" iyy="4.582e-06" iyz="-0.0" izz="1.47e-06"/>
    </inertial>
    <visual>
      <geometry>
        <mesh filename="package://val_description/model/meshes/fingers/thumbj2_left.dae"/>
      </geometry>
      <origin rpy="0.0 0.0 0.0" xyz="0.0 0.0 0.0"/>
      <material name="Gold"/>
    </visual>
    <collision>
      <geometry>
        <mesh filename="package://val_description/model/meshes/fingers/thumbj2_left.dae"/>
      </geometry>
      <origin rpy="0 0 0" xyz="0 0 0"/>
    </collision>
  </link>
  <link name="leftThumbPitch2Link">
    <inertial>
      <mass value="0.013"/>
      <origin rpy="0 0 0" xyz="0 0.004 0.017"/>
      <inertia ixx="1.266e-06" ixy="0.0" ixz="0.0" iyy="1.503e-06" iyz="0.0" izz="6.99e-07"/>
    </inertial>
    <visual>
      <geometry>
        <mesh filename="package://val_description/model/meshes/fingers/thumbj3_left.dae"/>
      </geometry>
      <origin rpy="0.0 0.0 0.0" xyz="0.0 0.0 0.0"/>
      <material name="Gold"/>
    </visual>
    <collision>
      <geometry>
        <mesh filename="package://val_description/model/meshes/fingers/thumbj3_left.dae"/>
      </geometry>
      <origin rpy="0 0 0" xyz="0 0 0"/>
    </collision>
  </link>
  <link name="leftThumbPitch3Link">
    <inertial>
      <mass value="0.006"/>
      <origin rpy="0 0 0" xyz="0 0.004 0.01"/>
      <inertia ixx="3.22e-07" ixy="0.0" ixz="0.0" iyy="4.06e-07" iyz="0.0" izz="2.1e-07"/>
    </inertial>
    <visual>
      <geometry>
        <mesh filename="package://val_description/model/meshes/fingers/thumbj4_left.dae"/>
      </geometry>
      <origin rpy="0.0 0.0 0.0" xyz="0.0 0.0 0.0"/>
      <material name="Gold"/>
    </visual>
    <collision>
      <geometry>
        <mesh filename="package://val_description/model/meshes/fingers/thumbj4_left.dae"/>
      </geometry>
      <origin rpy="0 0 0" xyz="0 0 0"/>
    </collision>
  </link>
  <joint name="leftThumbRoll" type="revolute">
    <origin rpy="-0.3491 0.0 0.0" xyz="0.0049 0.0351 0.0228"/>
    <axis xyz="0 1 0"/>
    <parent link="leftPalm"/>
    <child link="leftThumbRollLink"/>
    <limit effort="10" lower="0.0" upper="2.356" velocity="1"/>
    <dynamics damping="1.0" friction="0.0"/>
  </joint>
  <gazebo reference="leftThumbRoll">
    <provideFeedback>1</provideFeedback>
    <implicitSpringDamper>1</implicitSpringDamper>
  </gazebo>
  <joint name="leftThumbPitch1" type="revolute">
    <origin rpy="0.3491 0.0 0.0" xyz="0.0 0.0 0.0229"/>
    <axis xyz="1 0 0"/>
    <parent link="leftThumbRollLink"/>
    <child link="leftThumbPitch1Link"/>
    <limit effort="10" lower="-1.658" upper="-0.0" velocity="1"/>
    <dynamics damping="1.0" friction="0.0"/>
  </joint>
  <gazebo reference="leftThumbPitch1">
    <provideFeedback>1</provideFeedback>
    <implicitSpringDamper>1</implicitSpringDamper>
  </gazebo>
  <joint name="leftThumbPitch2" type="revolute">
    <origin rpy="0.0 0.0 0.0" xyz="0.0 0.0066 0.0375"/>
    <axis xyz="1 0 0"/>
    <parent link="leftThumbPitch1Link"/>
    <child link="leftThumbPitch2Link"/>
    <limit effort="10" lower="-1.92" upper="-0.0" velocity="1"/>
    <dynamics damping="1.0" friction="0.0"/>
  </joint>
  <gazebo reference="leftThumbPitch2">
    <provideFeedback>1</provideFeedback>
    <implicitSpringDamper>1</implicitSpringDamper>
  </gazebo>
  <joint name="leftThumbPitch3" type="revolute">
    <origin rpy="0.0 0.0 0.0" xyz="0.0 0.0049 0.0275"/>
    <axis xyz="1 0 0"/>
    <parent link="leftThumbPitch2Link"/>
    <child link="leftThumbPitch3Link"/>
    <limit effort="10" lower="-1.57" upper="-0.0" velocity="1"/>
    <dynamics damping="1.0" friction="0.0"/>
  </joint>
  <gazebo reference="leftThumbPitch3">
    <provideFeedback>1</provideFeedback>
    <implicitSpringDamper>1</implicitSpringDamper>
  </gazebo>
  <link name="leftIndexFingerPitch1Link">
    <inertial>
      <mass value="0.02"/>
      <origin rpy="0 0 0" xyz="0 0.02 0"/>
      <inertia ixx="4.232e-06" ixy="6e-08" ixz="8e-09" iyy="1.215e-06" iyz="-7e-09" izz="3.892e-06"/>
    </inertial>
    <visual>
      <geometry>
        <mesh filename="package://val_description/model/meshes/fingers/indexj1_left.dae"/>
      </geometry>
      <origin rpy="0.0 0.0 0.0" xyz="0.0 0.0 0.0"/>
      <material name="Gold"/>
    </visual>
    <collision>
      <geometry>
        <mesh filename="package://val_description/model/meshes/fingers/indexj1_left.dae"/>
      </geometry>
      <origin rpy="0 0 0" xyz="0 0 0"/>
    </collision>
  </link>
  <link name="leftIndexFingerPitch2Link">
    <inertial>
      <mass value="0.018"/>
      <origin rpy="0 0 0" xyz="0 0.013 0"/>
      <inertia ixx="1.562e-06" ixy="1.7e-08" ixz="1.3e-08" iyy="7.22e-07" iyz="3.1e-08" izz="1.255e-06"/>
    </inertial>
    <visual>
      <geometry>
        <mesh filename="package://val_description/model/meshes/fingers/indexj2_left.dae"/>
      </geometry>
      <origin rpy="0.0 0.0 0.0" xyz="0.0 0.0 0.0"/>
      <material name="Gold"/>
    </visual>
    <collision>
      <geometry>
        <mesh filename="package://val_description/model/meshes/fingers/indexj2_left.dae"/>
      </geometry>
      <origin rpy="0 0 0" xyz="0 0 0"/>
    </collision>
  </link>
  <link name="leftIndexFingerPitch3Link">
    <inertial>
      <mass value="0.01"/>
      <origin rpy="0 0 0" xyz="0 0.01 0"/>
      <inertia ixx="6.02e-07" ixy="2.4e-08" ixz="-0.0" iyy="2.09e-07" iyz="1.7e-08" izz="5.02e-07"/>
    </inertial>
    <visual>
      <geometry>
        <mesh filename="package://val_description/model/meshes/fingers/indexj3_left.dae"/>
      </geometry>
      <origin rpy="0.0 0.0 0.0" xyz="0.0 0.0 0.0"/>
      <material name="Gold"/>
    </visual>
    <collision>
      <geometry>
        <mesh filename="package://val_description/model/meshes/fingers/indexj3_left.dae"/>
      </geometry>
      <origin rpy="0 0 0" xyz="0 0 0"/>
    </collision>
  </link>
  <joint name="leftIndexFingerPitch1" type="revolute">
    <origin rpy="0.1745 0.0 0.0" xyz="0.0022 0.0976 0.0235"/>
    <axis xyz="0 0 1"/>
    <parent link="leftPalm"/>
    <child link="leftIndexFingerPitch1Link"/>
    <limit effort="10" lower="-1.57" upper="-0.0" velocity="1"/>
    <dynamics damping="1.0" friction="0.0"/>
  </joint>
  <gazebo reference="leftIndexFingerPitch1">
    <provideFeedback>1</provideFeedback>
    <implicitSpringDamper>1</implicitSpringDamper>
  </gazebo>
  <joint name="leftIndexFingerPitch2" type="revolute">
    <origin rpy="0.0 0.0 0.0" xyz="0.0 0.0381 0.0"/>
    <axis xyz="0 0 1"/>
    <parent link="leftIndexFingerPitch1Link"/>
    <child link="leftIndexFingerPitch2Link"/>
    <limit effort="10" lower="-1.658" upper="-0.0" velocity="1"/>
    <dynamics damping="1.0" friction="0.0"/>
  </joint>
  <gazebo reference="leftIndexFingerPitch2">
    <provideFeedback>1</provideFeedback>
    <implicitSpringDamper>1</implicitSpringDamper>
  </gazebo>
  <joint name="leftIndexFingerPitch3" type="revolute">
    <origin rpy="0.0 0.0 0.0" xyz="0.0 0.0229 0"/>
    <axis xyz="0 0 1"/>
    <parent link="leftIndexFingerPitch2Link"/>
    <child link="leftIndexFingerPitch3Link"/>
    <limit effort="10" lower="-1.92" upper="-0.0" velocity="1"/>
    <dynamics damping="1.0" friction="0.0"/>
  </joint>
  <gazebo reference="leftIndexFingerPitch3">
    <provideFeedback>1</provideFeedback>
    <implicitSpringDamper>1</implicitSpringDamper>
  </gazebo>
  <link name="leftMiddleFingerPitch1Link">
    <inertial>
      <mass value="0.02"/>
      <origin rpy="0 0 0" xyz="0 0.02 0"/>
      <inertia ixx="5.148e-06" ixy="4.2e-08" ixz="1.1e-08" iyy="1.322e-06" iyz="-4e-09" izz="4.592e-06"/>
    </inertial>
    <visual>
      <geometry>
        <mesh filename="package://val_description/model/meshes/fingers/middlej1_left.dae"/>
      </geometry>
      <origin rpy="0.0 0.0 0.0" xyz="0.0 0.0 0.0"/>
      <material name="Gold"/>
    </visual>
    <collision>
      <geometry>
        <mesh filename="package://val_description/model/meshes/fingers/middlej1_left.dae"/>
      </geometry>
      <origin rpy="0 0 0" xyz="0 0 0"/>
    </collision>
  </link>
  <link name="leftMiddleFingerPitch2Link">
    <inertial>
      <mass value="0.011"/>
      <origin rpy="0 0 0" xyz="0 0.013 0"/>
      <inertia ixx="1.97e-06" ixy="-3.4e-08" ixz="1.1e-08" iyy="5.54e-07" iyz="-7.8e-08" izz="2.272e-06"/>
    </inertial>
    <visual>
      <geometry>
        <mesh filename="package://val_description/model/meshes/fingers/middlej2_left.dae"/>
      </geometry>
      <origin rpy="0.0 0.0 0.0" xyz="0.0 0.0 0.0"/>
      <material name="Gold"/>
    </visual>
    <collision>
      <geometry>
        <mesh filename="package://val_description/model/meshes/fingers/middlej2_left.dae"/>
      </geometry>
      <origin rpy="0 0 0" xyz="0 0 0"/>
    </collision>
  </link>
  <link name="leftMiddleFingerPitch3Link">
    <inertial>
      <mass value="0.006"/>
      <origin rpy="0 0 0" xyz="0 0.01 0"/>
      <inertia ixx="3.96e-07" ixy="9e-09" ixz="1e-09" iyy="1.6e-07" iyz="1.6e-08" izz="3.03e-07"/>
    </inertial>
    <visual>
      <geometry>
        <mesh filename="package://val_description/model/meshes/fingers/middlej3_left.dae"/>
      </geometry>
      <origin rpy="0.0 0.0 0.0" xyz="0.0 0.0 0.0"/>
      <material name="Gold"/>
    </visual>
    <collision>
      <geometry>
        <mesh filename="package://val_description/model/meshes/fingers/middlej3_left.dae"/>
      </geometry>
      <origin rpy="0 0 0" xyz="0 0 0"/>
    </collision>
  </link>
  <joint name="leftMiddleFingerPitch1" type="revolute">
    <origin rpy="-0.1222 0.0 0.0" xyz="0.0022 0.097 -0.0119"/>
    <axis xyz="0 0 1"/>
    <parent link="leftPalm"/>
    <child link="leftMiddleFingerPitch1Link"/>
    <limit effort="10" lower="-1.658" upper="-0.0" velocity="1"/>
    <dynamics damping="1.0" friction="0.0"/>
  </joint>
  <gazebo reference="leftMiddleFingerPitch1">
    <provideFeedback>1</provideFeedback>
    <implicitSpringDamper>1</implicitSpringDamper>
  </gazebo>
  <joint name="leftMiddleFingerPitch2" type="revolute">
    <origin rpy="0.0 0.0 0.0" xyz="0.0 0.0381 0.0"/>
    <axis xyz="0 0 1"/>
    <parent link="leftMiddleFingerPitch1Link"/>
    <child link="leftMiddleFingerPitch2Link"/>
    <limit effort="10" lower="-1.92" upper="-0.0" velocity="1"/>
    <dynamics damping="1.0" friction="0.0"/>
  </joint>
  <gazebo reference="leftMiddleFingerPitch2">
    <provideFeedback>1</provideFeedback>
    <implicitSpringDamper>1</implicitSpringDamper>
  </gazebo>
  <joint name="leftMiddleFingerPitch3" type="revolute">
    <origin rpy="0.0 0.0 0.0" xyz="0.0 0.0229 0.0"/>
    <axis xyz="0 0 1"/>
    <parent link="leftMiddleFingerPitch2Link"/>
    <child link="leftMiddleFingerPitch3Link"/>
    <limit effort="10" lower="-1.57" upper="-0.0" velocity="1"/>
    <dynamics damping="1.0" friction="0.0"/>
  </joint>
  <gazebo reference="leftMiddleFingerPitch3">
    <provideFeedback>1</provideFeedback>
    <implicitSpringDamper>1</implicitSpringDamper>
  </gazebo>
  <link name="leftPinkyPitch1Link">
    <inertial>
      <mass value="0.02"/>
      <origin rpy="0 0 0" xyz="0 0.02 0"/>
      <inertia ixx="5.148e-06" ixy="4.2e-08" ixz="1.1e-08" iyy="1.322e-06" iyz="-4e-09" izz="4.592e-06"/>
    </inertial>
    <visual>
      <geometry>
        <mesh filename="package://val_description/model/meshes/fingers/pinkyj1_left.dae"/>
      </geometry>
      <origin rpy="0.0 0.0 0.0" xyz="0.0 0.0 0.0"/>
      <material name="Gold"/>
    </visual>
    <collision>
      <geometry>
        <mesh filename="package://val_description/model/meshes/fingers/pinkyj1_left.dae"/>
      </geometry>
      <origin rpy="0 0 0" xyz="0 0 0"/>
    </collision>
  </link>
  <link name="leftPinkyPitch2Link">
    <inertial>
      <mass value="0.011"/>
      <origin rpy="0 0 0" xyz="0 0.013 0"/>
      <inertia ixx="1.97e-06" ixy="-3.4e-08" ixz="1.1e-08" iyy="5.54e-07" iyz="-7.8e-08" izz="2.272e-06"/>
    </inertial>
    <visual>
      <geometry>
        <mesh filename="package://val_description/model/meshes/fingers/pinkyj2_left.dae"/>
      </geometry>
      <origin rpy="0.0 0.0 0.0" xyz="0.0 0.0 0.0"/>
      <material name="Gold"/>
    </visual>
    <collision>
      <geometry>
        <mesh filename="package://val_description/model/meshes/fingers/pinkyj2_left.dae"/>
      </geometry>
      <origin rpy="0 0 0" xyz="0 0 0"/>
    </collision>
  </link>
  <link name="leftPinkyPitch3Link">
    <inertial>
      <mass value="0.006"/>
      <origin rpy="0 0 0" xyz="0 0.01 0"/>
      <inertia ixx="3.96e-07" ixy="9e-09" ixz="1e-09" iyy="1.6e-07" iyz="1.6e-08" izz="3.03e-07"/>
    </inertial>
    <visual>
      <geometry>
        <mesh filename="package://val_description/model/meshes/fingers/pinkyj3_left.dae"/>
      </geometry>
      <origin rpy="0.0 0.0 0.0" xyz="0.0 0.0 0.0"/>
      <material name="Gold"/>
    </visual>
    <collision>
      <geometry>
        <mesh filename="package://val_description/model/meshes/fingers/pinkyj3_left.dae"/>
      </geometry>
      <origin rpy="0 0 0" xyz="0 0 0"/>
    </collision>
  </link>
  <joint name="leftPinkyPitch1" type="revolute">
    <origin rpy="-0.1222 0.0 0.0" xyz="0.0022 0.0838 -0.041"/>
    <axis xyz="0 0 1"/>
    <parent link="leftPalm"/>
    <child link="leftPinkyPitch1Link"/>
    <limit effort="10" lower="-1.57" upper="-0.0" velocity="1"/>
    <dynamics damping="1.0" friction="0.0"/>
  </joint>
  <gazebo reference="leftPinkyPitch1">
    <provideFeedback>1</provideFeedback>
    <implicitSpringDamper>1</implicitSpringDamper>
  </gazebo>
  <joint name="leftPinkyPitch2" type="revolute">
    <origin rpy="0.0 0.0 0.0" xyz="0.0 0.0381 0.0"/>
    <axis xyz="0 0 1"/>
    <parent link="leftPinkyPitch1Link"/>
    <child link="leftPinkyPitch2Link"/>
    <limit effort="10" lower="-1.658" upper="-0.0" velocity="1"/>
    <dynamics damping="1.0" friction="0.0"/>
  </joint>
  <gazebo reference="leftPinkyPitch2">
    <provideFeedback>1</provideFeedback>
    <implicitSpringDamper>1</implicitSpringDamper>
  </gazebo>
  <joint name="leftPinkyPitch3" type="revolute">
    <origin rpy="0.0 0.0 0.0" xyz="0.0 0.0229 0.0"/>
    <axis xyz="0 0 1"/>
    <parent link="leftPinkyPitch2Link"/>
    <child link="leftPinkyPitch3Link"/>
    <limit effort="10" lower="-1.92" upper="-0.0" velocity="1"/>
    <dynamics damping="1.0" friction="0.0"/>
  </joint>
  <gazebo reference="leftPinkyPitch3">
    <provideFeedback>1</provideFeedback>
    <implicitSpringDamper>1</implicitSpringDamper>
  </gazebo>
  <link name="rightHipYawLink">
    <inertial>
      <mass value="2.39"/>
      <origin rpy="0 0 0" xyz="0.02176 0.00131 0.03867"/>
      <inertia ixx="0.017260978" ixy="0.0" ixz="0.0" iyy="0.014866198" iyz="0.0" izz="0.011238178"/>
    </inertial>
    <visual>
      <geometry>
        <mesh filename="package://val_description/model/meshes/legs/lj1_right.dae"/>
      </geometry>
      <origin rpy="0.0 0.0 0.0" xyz="0.0 0.0 0.0"/>
      <material name="Gold"/>
    </visual>
    <collision>
      <geometry>
        <mesh filename="package://val_description/model/meshes/legs/lj1_right.dae"/>
      </geometry>
      <origin rpy="0 0 0" xyz="0 0 0"/>
    </collision>
  </link>
  <link name="rightHipRollLink">
    <inertial>
      <mass value="3.665"/>
      <origin rpy="0 0 0" xyz="0.012959 -0.00755 -0.015950"/>
      <inertia ixx="0.005978962" ixy="0.000234823" ixz="0.000553962" iyy="0.009372646" iyz="-0.000778956" izz="0.008193117"/>
    </inertial>
    <visual>
      <geometry>
        <mesh filename="package://val_description/model/meshes/legs/lj2_right.dae"/>
      </geometry>
      <origin rpy="0.0 0.0 0.0" xyz="0.0 0.0 0.0"/>
      <material name="White"/>
    </visual>
    <collision>
      <geometry>
        <mesh filename="package://val_description/model/meshes/legs/lj2_right.dae"/>
      </geometry>
      <origin rpy="0 0 0" xyz="0 0 0"/>
    </collision>
  </link>
  <link name="rightHipPitchLink">
    <inertial>
      <mass value="10.2"/>
      <origin rpy="0 0 0" xyz="0.016691 -0.091397 -0.207875"/>
      <inertia ixx="0.24083413" ixy="-3.5915e-05" ixz="0.003699383" iyy="0.25689705" iyz="0.001333005" izz="0.023276352"/>
    </inertial>
    <visual>
      <geometry>
        <mesh filename="package://val_description/model/meshes/legs/lj3_right.dae"/>
      </geometry>
      <origin rpy="0.0 0.0 0.0" xyz="0.0 0.0 0.0"/>
      <material name="White"/>
    </visual>
    <collision>
      <geometry>
        <mesh filename="package://val_description/model/meshes/legs/lj3_right.dae"/>
      </geometry>
      <origin rpy="0 0 0" xyz="0 0 0"/>
    </collision>
  </link>
  <link name="rightKneePitchLink">
    <inertial>
      <mass value="6.6"/>
      <origin rpy="0 0 0" xyz="0.002425 -0.001543 -0.189511"/>
      <inertia ixx="0.096117529" ixy="0.000107885" ixz="0.006319047" iyy="0.097118447" iyz="-0.000494739" izz="0.013722874"/>
    </inertial>
    <visual>
      <geometry>
        <mesh filename="package://val_description/model/meshes/legs/lj4_right.dae"/>
      </geometry>
      <origin rpy="0.0 0.0 0.0" xyz="0.0 0.0 0.0"/>
      <material name="White"/>
    </visual>
    <collision>
      <geometry>
        <mesh filename="package://val_description/model/meshes/legs/lj4_right.dae"/>
      </geometry>
      <origin rpy="0 0 0" xyz="0 0 0"/>
    </collision>
  </link>
  <link name="rightAnklePitchLink">
    <inertial>
      <mass value="0.06"/>
      <origin rpy="0 0 0" xyz="0.0 0.0 0.0"/>
      <inertia ixx="1.1226e-05" ixy="0.0" ixz="2.735e-06" iyy="2.67e-05" iyz="0.0" izz="1.8792e-05"/>
    </inertial>
    <visual>
      <geometry>
        <mesh filename="package://val_description/model/meshes/legs/lj5.dae"/>
      </geometry>
      <origin rpy="0.0 0.0 0.0" xyz="0.0 0.0 0.0"/>
      <material name="White"/>
    </visual>
    <collision>
      <geometry>
        <mesh filename="package://val_description/model/meshes/legs/lj5.dae"/>
      </geometry>
      <origin rpy="0 0 0" xyz="0 0 0"/>
    </collision>
  </link>
  <link name="rightFoot">
    <inertial>
      <mass value="3.255"/>
      <origin rpy="0 0 0" xyz="0.037702 0.005161 -0.047634"/>
      <inertia ixx="0.008966273" ixy="-8.6029e-05" ixz="0.003944774" iyy="0.023943858" iyz="0.000105218" izz="0.028128777"/>
    </inertial>
    <visual>
      <geometry>
        <mesh filename="package://val_description/model/meshes/legs/foot.dae"/>
      </geometry>
      <origin rpy="0 0 0" xyz="0 0 0"/>
      <material name="White"/>
    </visual>
    <collision>
      <geometry>
        <box size="0.27 0.16 0.064"/>
      </geometry>
      <origin rpy="0.0 0.0 0.0" xyz="0.066 0.0 -0.056"/>
    </collision>
  </link>
  <joint name="rightHipYaw" type="revolute">
    <origin rpy="0.0 0.0 0.0" xyz="0.0 -0.1016 -0.1853"/>
    <axis xyz="0 0 1"/>
    <parent link="pelvis"/>
    <child link="rightHipYawLink"/>
    <limit effort="190" lower="-1.1" upper="0.4141" velocity="5.89"/>
    <controller_gains Kd="500" Kp="15000"/>
    <dynamics damping="0.1" friction="0.0"/>
  </joint>
  <gazebo reference="rightHipYaw">
    <provideFeedback>1</provideFeedback>
    <implicitSpringDamper>1</implicitSpringDamper>
  </gazebo>
  <joint name="rightHipRoll" type="revolute">
    <origin rpy="0.0 0.0 0.0" xyz="0.0 0.0 0.0"/>
    <axis xyz="1 0 0"/>
    <parent link="rightHipYawLink"/>
    <child link="rightHipRollLink"/>
    <limit effort="350" lower="-0.5515" upper="0.467" velocity="7"/>
    <controller_gains Kd="500" Kp="15000"/>
    <dynamics damping="0.1" friction="0.0"/>
  </joint>
  <gazebo reference="rightHipRoll">
    <provideFeedback>1</provideFeedback>
    <implicitSpringDamper>1</implicitSpringDamper>
  </gazebo>
  <joint name="rightHipPitch" type="revolute">
    <origin rpy="0.0 0.0 0.0" xyz="0.0 0.0 -0.0609"/>
    <axis xyz="0 1 0"/>
    <parent link="rightHipRollLink"/>
    <child link="rightHipPitchLink"/>
    <limit effort="350" lower="-2.42" upper="1.619" velocity="6.11"/>
    <controller_gains Kd="500" Kp="15000"/>
    <dynamics damping="0.1" friction="0.0"/>
  </joint>
  <gazebo reference="rightHipPitch">
    <provideFeedback>1</provideFeedback>
    <implicitSpringDamper>1</implicitSpringDamper>
  </gazebo>
  <joint name="rightKneePitch" type="revolute">
    <origin rpy="0.0 0.0 0.0" xyz="0.000112225 -0.0361046 -0.430959"/>
    <axis xyz="0 1 0"/>
    <parent link="rightHipPitchLink"/>
    <child link="rightKneePitchLink"/>
    <limit effort="350" lower="-0.083" upper="2.057" velocity="6.11"/>
    <controller_gains Kd="500" Kp="15000"/>
    <dynamics damping="0.1" friction="0.0"/>
  </joint>
  <gazebo reference="rightKneePitch">
    <provideFeedback>1</provideFeedback>
    <implicitSpringDamper>1</implicitSpringDamper>
  </gazebo>
  <joint name="rightAnklePitch" type="revolute">
    <origin rpy="0.0 0.0 0.0" xyz="-0.0102381 0.0 -0.40627"/>
    <axis xyz="0 1 0"/>
    <parent link="rightKneePitchLink"/>
    <child link="rightAnklePitchLink"/>
    <limit effort="205" lower="-0.8644" upper="0.875" velocity="11"/>
    <controller_gains Kd="400" Kp="15000"/>
    <dynamics damping="0.1" friction="0.0"/>
  </joint>
  <gazebo reference="rightAnklePitch">
    <provideFeedback>1</provideFeedback>
    <implicitSpringDamper>1</implicitSpringDamper>
  </gazebo>
  <joint name="rightAnkleRoll" type="revolute">
    <origin rpy="0.0 0.0 0.0" xyz="0.0 0.0 0.0"/>
    <axis xyz="1 0 0"/>
    <parent link="rightAnklePitchLink"/>
    <child link="rightFoot"/>
    <limit effort="205" lower="-0.349" upper="0.348" velocity="11"/>
    <controller_gains Kd="400" Kp="15000"/>
    <dynamics damping="0.3" friction="0.0"/>
  </joint>
  <gazebo reference="rightAnkleRoll">
    <provideFeedback>1</provideFeedback>
    <implicitSpringDamper>1</implicitSpringDamper>
  </gazebo>
  <link name="leftHipYawLink">
    <inertial>
      <mass value="2.39"/>
      <origin rpy="0 0 0" xyz="0.02176 -0.00131 0.03867"/>
      <inertia ixx="0.017260978" ixy="0.0" ixz="0.0" iyy="0.014866198" iyz="0.0" izz="0.011238178"/>
    </inertial>
    <visual>
      <geometry>
        <mesh filename="package://val_description/model/meshes/legs/lj1_left.dae"/>
      </geometry>
      <origin rpy="0.0 0.0 0.0" xyz="0.0 0.0 0.0"/>
      <material name="Gold"/>
    </visual>
    <collision>
      <geometry>
        <mesh filename="package://val_description/model/meshes/legs/lj1_left.dae"/>
      </geometry>
      <origin rpy="0 0 0" xyz="0 0 0"/>
    </collision>
  </link>
  <link name="leftHipRollLink">
    <inertial>
      <mass value="3.665"/>
      <origin rpy="0 0 0" xyz="0.012959 0.00755 -0.015950"/>
      <inertia ixx="0.005978962" ixy="-0.000234823" ixz="0.000553962" iyy="0.009372646" iyz="0.000778956" izz="0.008193117"/>
    </inertial>
    <visual>
      <geometry>
        <mesh filename="package://val_description/model/meshes/legs/lj2_left.dae"/>
      </geometry>
      <origin rpy="0.0 0.0 0.0" xyz="0.0 0.0 0.0"/>
      <material name="White"/>
    </visual>
    <collision>
      <geometry>
        <mesh filename="package://val_description/model/meshes/legs/lj2_left.dae"/>
      </geometry>
      <origin rpy="0 0 0" xyz="0 0 0"/>
    </collision>
  </link>
  <link name="leftHipPitchLink">
    <inertial>
      <mass value="10.2"/>
      <origin rpy="0 0 0" xyz="0.016691 0.091397 -0.207875"/>
      <inertia ixx="0.24083413" ixy="3.5915e-05" ixz="0.003699383" iyy="0.25689705" iyz="-0.001333005" izz="0.023276352"/>
    </inertial>
    <visual>
      <geometry>
        <mesh filename="package://val_description/model/meshes/legs/lj3_left.dae"/>
      </geometry>
      <origin rpy="0.0 0.0 0.0" xyz="0.0 0.0 0.0"/>
      <material name="White"/>
    </visual>
    <collision>
      <geometry>
        <mesh filename="package://val_description/model/meshes/legs/lj3_left.dae"/>
      </geometry>
      <origin rpy="0 0 0" xyz="0 0 0"/>
    </collision>
  </link>
  <link name="leftKneePitchLink">
    <inertial>
      <mass value="6.6"/>
      <origin rpy="0 0 0" xyz="0.002425 -0.001543 -0.189511"/>
      <inertia ixx="0.096117529" ixy="0.000107885" ixz="0.006319047" iyy="0.097118447" iyz="-0.000494739" izz="0.013722874"/>
    </inertial>
    <visual>
      <geometry>
        <mesh filename="package://val_description/model/meshes/legs/lj4_left.dae"/>
      </geometry>
      <origin rpy="0.0 0.0 0.0" xyz="0.0 0.0 0.0"/>
      <material name="White"/>
    </visual>
    <collision>
      <geometry>
        <mesh filename="package://val_description/model/meshes/legs/lj4_left.dae"/>
      </geometry>
      <origin rpy="0 0 0" xyz="0 0 0"/>
    </collision>
  </link>
  <link name="leftAnklePitchLink">
    <inertial>
      <mass value="0.06"/>
      <origin rpy="0 0 0" xyz="0.0 0.0 0.0"/>
      <inertia ixx="1.1226e-05" ixy="0.0" ixz="2.735e-06" iyy="2.67e-05" iyz="0.0" izz="1.8792e-05"/>
    </inertial>
    <visual>
      <geometry>
        <mesh filename="package://val_description/model/meshes/legs/lj5.dae"/>
      </geometry>
      <origin rpy="0.0 0.0 0.0" xyz="0.0 0.0 0.0"/>
      <material name="White"/>
    </visual>
    <collision>
      <geometry>
        <mesh filename="package://val_description/model/meshes/legs/lj5.dae"/>
      </geometry>
      <origin rpy="0 0 0" xyz="0 0 0"/>
    </collision>
  </link>
  <link name="leftFoot">
    <inertial>
      <mass value="3.255"/>
      <origin rpy="0 0 0" xyz="0.037702 0.005161 -0.047634"/>
      <inertia ixx="0.008966273" ixy="-8.6029e-05" ixz="0.003944774" iyy="0.023943858" iyz="0.000105218" izz="0.028128777"/>
    </inertial>
    <visual>
      <geometry>
        <mesh filename="package://val_description/model/meshes/legs/foot.dae"/>
      </geometry>
      <origin rpy="0 0 0" xyz="0 0 0"/>
      <material name="White"/>
    </visual>
    <collision>
      <geometry>
        <box size="0.27 0.16 0.064"/>
      </geometry>
      <origin rpy="0.0 0.0 0.0" xyz="0.066 0.0 -0.056"/>
    </collision>
  </link>
  <joint name="leftHipYaw" type="revolute">
    <origin rpy="0.0 0.0 0.0" xyz="0.0 0.1016 -0.1853"/>
    <axis xyz="0 0 1"/>
    <parent link="pelvis"/>
    <child link="leftHipYawLink"/>
    <limit effort="190" lower="-0.4141" upper="1.1" velocity="5.89"/>
    <controller_gains Kd="500" Kp="15000"/>
    <dynamics damping="0.1" friction="0.0"/>
  </joint>
  <gazebo reference="leftHipYaw">
    <provideFeedback>1</provideFeedback>
    <implicitSpringDamper>1</implicitSpringDamper>
  </gazebo>
  <joint name="leftHipRoll" type="revolute">
    <origin rpy="0.0 0.0 0.0" xyz="0.0 0.0 0.0"/>
    <axis xyz="1 0 0"/>
    <parent link="leftHipYawLink"/>
    <child link="leftHipRollLink"/>
    <limit effort="350" lower="-0.467" upper="0.5515" velocity="7"/>
    <controller_gains Kd="500" Kp="15000"/>
    <dynamics damping="0.1" friction="0.0"/>
  </joint>
  <gazebo reference="leftHipRoll">
    <provideFeedback>1</provideFeedback>
    <implicitSpringDamper>1</implicitSpringDamper>
  </gazebo>
  <joint name="leftHipPitch" type="revolute">
    <origin rpy="0.0 0.0 0.0" xyz="0.0 0.0 -0.0609"/>
    <axis xyz="0 1 0"/>
    <parent link="leftHipRollLink"/>
    <child link="leftHipPitchLink"/>
    <limit effort="350" lower="-2.42" upper="1.619" velocity="6.11"/>
    <controller_gains Kd="500" Kp="15000"/>
    <dynamics damping="0.1" friction="0.0"/>
  </joint>
  <gazebo reference="leftHipPitch">
    <provideFeedback>1</provideFeedback>
    <implicitSpringDamper>1</implicitSpringDamper>
  </gazebo>
  <joint name="leftKneePitch" type="revolute">
    <origin rpy="0.0 0.0 0.0" xyz="0.000112225 0.0361046 -0.430959"/>
    <axis xyz="0 1 0"/>
    <parent link="leftHipPitchLink"/>
    <child link="leftKneePitchLink"/>
    <limit effort="350" lower="-0.083" upper="2.057" velocity="6.11"/>
    <controller_gains Kd="500" Kp="15000"/>
    <dynamics damping="0.1" friction="0.0"/>
  </joint>
  <gazebo reference="leftKneePitch">
    <provideFeedback>1</provideFeedback>
    <implicitSpringDamper>1</implicitSpringDamper>
  </gazebo>
  <joint name="leftAnklePitch" type="revolute">
    <origin rpy="0.0 0.0 0.0" xyz="-0.0102381 0.0 -0.40627"/>
    <axis xyz="0 1 0"/>
    <parent link="leftKneePitchLink"/>
    <child link="leftAnklePitchLink"/>
    <limit effort="205" lower="-0.8644" upper="0.875" velocity="11"/>
    <controller_gains Kd="400" Kp="15000"/>
    <dynamics damping="0.1" friction="0.0"/>
  </joint>
  <gazebo reference="leftAnklePitch">
    <provideFeedback>1</provideFeedback>
    <implicitSpringDamper>1</implicitSpringDamper>
  </gazebo>
  <joint name="leftAnkleRoll" type="revolute">
    <origin rpy="0.0 0.0 0.0" xyz="0.0 0.0 0.0"/>
    <axis xyz="1 0 0"/>
    <parent link="leftAnklePitchLink"/>
    <child link="leftFoot"/>
    <limit effort="205" lower="-0.349" upper="0.348" velocity="11"/>
    <controller_gains Kd="400" Kp="15000"/>
    <dynamics damping="0.3" friction="0.0"/>
  </joint>
  <gazebo reference="leftAnkleRoll">
    <provideFeedback>1</provideFeedback>
    <implicitSpringDamper>1</implicitSpringDamper>
  </gazebo>
  <link name="rightTorsoIMU_Frame">
    <!-- Virtual Link -->
    <inertial>
      <mass value="1e-07"/>
      <origin rpy="0 0 0" xyz="0 0 0"/>
      <inertia ixx="3.33333333333e-22" ixy="0.0" ixz="0.0" iyy="3.33333333333e-22" iyz="0.0" izz="5e-22"/>
    </inertial>
  </link>
  <joint name="rightTorsoIMU_Offset" type="fixed">
    <origin rpy="-1.57 0.0 3.14" xyz="-0.047 -0.134 0.363"/>
    <axis xyz="0 0 1"/>
    <parent link="torso"/>
    <child link="rightTorsoIMU_Frame"/>
  </joint>
  <gazebo reference="rightTorsoIMU_Offset">
    <implicitSpringDamper>1</implicitSpringDamper>
  </gazebo>
  <gazebo reference="rightTorsoIMU_Frame">
    <sensor name="rightTorsoIMU" type="imu">
      <always_on>true</always_on>
      <pose>-0.047 -0.134 0.363 -1.57 0.0 3.14 </pose>
      <imu>
        <noise>
          <type>gaussian</type>
          <rate>
            <mean>0</mean>
            <stddev>0.0002</stddev>
            <bias_mean>7.5e-06</bias_mean>
            <bias_stddev>8e-07</bias_stddev>
          </rate>
          <accel>
            <mean>0</mean>
            <stddev>0.017</stddev>
            <bias_mean>0.1</bias_mean>
            <bias_stddev>0.001</bias_stddev>
          </accel>
        </noise>
      </imu>
    </sensor>
  </gazebo>
  <link name="leftTorsoIMU_Frame">
    <!-- Virtual Link -->
    <inertial>
      <mass value="1e-07"/>
      <origin rpy="0 0 0" xyz="0 0 0"/>
      <inertia ixx="3.33333333333e-22" ixy="0.0" ixz="0.0" iyy="3.33333333333e-22" iyz="0.0" izz="5e-22"/>
    </inertial>
  </link>
  <joint name="leftTorsoIMU_Offset" type="fixed">
    <origin rpy="1.57 0.0 3.14" xyz="-0.047 0.134 0.363"/>
    <axis xyz="0 0 1"/>
    <parent link="torso"/>
    <child link="leftTorsoIMU_Frame"/>
  </joint>
  <gazebo reference="leftTorsoIMU_Offset">
    <implicitSpringDamper>1</implicitSpringDamper>
  </gazebo>
  <gazebo reference="leftTorsoIMU_Frame">
    <sensor name="leftTorsoIMU" type="imu">
      <always_on>true</always_on>
      <pose>-0.047 0.134 0.363 1.57 0.0 3.14 </pose>
      <imu>
        <noise>
          <type>gaussian</type>
          <rate>
            <mean>0</mean>
            <stddev>0.0002</stddev>
            <bias_mean>7.5e-06</bias_mean>
            <bias_stddev>8e-07</bias_stddev>
          </rate>
          <accel>
            <mean>0</mean>
            <stddev>0.017</stddev>
            <bias_mean>0.1</bias_mean>
            <bias_stddev>0.001</bias_stddev>
          </accel>
        </noise>
      </imu>
    </sensor>
  </gazebo>
  <link name="rightHazardCamera_Frame">
    <!-- Virtual Link -->
    <inertial>
      <mass value="1e-07"/>
      <origin rpy="0 0 0" xyz="0 0 0"/>
      <inertia ixx="3.33333333333e-22" ixy="0.0" ixz="0.0" iyy="3.33333333333e-22" iyz="0.0" izz="5e-22"/>
    </inertial>
  </link>
  <gazebo reference="rightHazardCamera_Frame">
    <sensor name="rightHazardCamera" type="camera">
      <camera>
        <image>
          <width>1280</width>
          <height>1024</height>
          <format>R8G8B8</format>
        </image>
        <horizontal_fov>1.378</horizontal_fov>
        <clip>
          <near>0.1</near>
          <far>100</far>
        </clip>
      </camera>
      <update_rate>60</update_rate>
    </sensor>
  </gazebo>
  <joint name="rightHazardCamera_Offset" type="fixed">
    <origin rpy="1.57 0.0 1.57" xyz="0.0345 -0.0406 0.1135"/>
    <axis xyz="0 0 1"/>
    <parent link="torso"/>
    <child link="rightHazardCamera_Frame"/>
  </joint>
  <gazebo reference="rightHazardCamera_Offset">
    <implicitSpringDamper>1</implicitSpringDamper>
  </gazebo>
  <link name="leftHazardCamera_Frame">
    <!-- Virtual Link -->
    <inertial>
      <mass value="1e-07"/>
      <origin rpy="0 0 0" xyz="0 0 0"/>
      <inertia ixx="3.33333333333e-22" ixy="0.0" ixz="0.0" iyy="3.33333333333e-22" iyz="0.0" izz="5e-22"/>
    </inertial>
  </link>
  <gazebo reference="leftHazardCamera_Frame">
    <sensor name="leftHazardCamera" type="camera">
      <camera>
        <image>
          <width>1280</width>
          <height>1024</height>
          <format>R8G8B8</format>
        </image>
        <horizontal_fov>1.378</horizontal_fov>
        <clip>
          <near>0.1</near>
          <far>100</far>
        </clip>
      </camera>
      <update_rate>60</update_rate>
    </sensor>
  </gazebo>
  <joint name="leftHazardCamera_Offset" type="fixed">
    <origin rpy="1.57 0.0 1.57" xyz="0.0345 0.0406 0.1135"/>
    <axis xyz="0 0 1"/>
    <parent link="torso"/>
    <child link="leftHazardCamera_Frame"/>
  </joint>
  <gazebo reference="leftHazardCamera_Offset">
    <implicitSpringDamper>1</implicitSpringDamper>
  </gazebo>
  <link name="leftCOP_Frame">
    <inertial>
      <mass value="0.1"/>
      <origin rpy="0 0 0" xyz="0 0 0"/>
      <inertia ixx="8.33333333333e-05" ixy="0.0" ixz="0.0" iyy="8.33333333333e-05" iyz="0.0" izz="0.000125"/>
    </inertial>
  </link>
  <joint name="leftCOP_Offset" type="fixed">
    <origin rpy="0.0 0.13 0.0" xyz="0.0189 0.0 -0.0783"/>
    <axis xyz="0 0 1"/>
    <parent link="leftFoot"/>
    <child link="leftCOP_Frame"/>
  </joint>
  <gazebo reference="leftCOP_Offset">
    <implicitSpringDamper>1</implicitSpringDamper>
  </gazebo>
  <link name="leftFootSixAxis_Frame">
    <!-- Virtual Link -->
    <inertial>
      <mass value="1e-07"/>
      <origin rpy="0 0 0" xyz="0 0 0"/>
      <inertia ixx="3.33333333333e-22" ixy="0.0" ixz="0.0" iyy="3.33333333333e-22" iyz="0.0" izz="5e-22"/>
    </inertial>
  </link>
  <joint name="leftFootSixAxis_Offset" type="fixed">
    <origin rpy="3.14 0.0 -1.047" xyz="0.0215646 0.0 -0.051054"/>
    <axis xyz="0 0 1"/>
    <parent link="leftFoot"/>
    <child link="leftFootSixAxis_Frame"/>
  </joint>
  <gazebo reference="leftFootSixAxis_Offset">
    <implicitSpringDamper>1</implicitSpringDamper>
  </gazebo>
  <gazebo reference="leftFootSixAxis_Offset">
    <sensor name="leftFootSixAxis" type="force_torque">
      <frame>child</frame>
    </sensor>
  </gazebo>
  <link name="rightCOP_Frame">
    <inertial>
      <mass value="0.1"/>
      <origin rpy="0 0 0" xyz="0 0 0"/>
      <inertia ixx="8.33333333333e-05" ixy="0.0" ixz="0.0" iyy="8.33333333333e-05" iyz="0.0" izz="0.000125"/>
    </inertial>
  </link>
  <joint name="rightCOP_Offset" type="fixed">
    <origin rpy="0.0 0.13 0.0" xyz="0.0189 0.0 -0.0783"/>
    <axis xyz="0 0 1"/>
    <parent link="rightFoot"/>
    <child link="rightCOP_Frame"/>
  </joint>
  <gazebo reference="rightCOP_Offset">
    <implicitSpringDamper>1</implicitSpringDamper>
  </gazebo>
  <link name="rightFootSixAxis_Frame">
    <!-- Virtual Link -->
    <inertial>
      <mass value="1e-07"/>
      <origin rpy="0 0 0" xyz="0 0 0"/>
      <inertia ixx="3.33333333333e-22" ixy="0.0" ixz="0.0" iyy="3.33333333333e-22" iyz="0.0" izz="5e-22"/>
    </inertial>
  </link>
  <joint name="rightFootSixAxis_Offset" type="fixed">
    <origin rpy="3.14 0.0 -1.047" xyz="0.0215646 0.0 -0.051054"/>
    <axis xyz="0 0 1"/>
    <parent link="rightFoot"/>
    <child link="rightFootSixAxis_Frame"/>
  </joint>
  <gazebo reference="rightFootSixAxis_Offset">
    <implicitSpringDamper>1</implicitSpringDamper>
  </gazebo>
  <gazebo reference="rightFootSixAxis_Offset">
    <sensor name="rightFootSixAxis" type="force_torque">
      <frame>child</frame>
    </sensor>
  </gazebo>
  <link name="multisense_root_link">
    <!-- Virtual Link -->
    <inertial>
      <mass value="1e-07"/>
      <origin rpy="0 0 0" xyz="0 0 0"/>
      <inertia ixx="3.33333333333e-22" ixy="0.0" ixz="0.0" iyy="3.33333333333e-22" iyz="0.0" izz="5e-22"/>
    </inertial>
  </link>
  <joint name="multisense_head_root_joint" type="fixed">
    <origin rpy="-3.14159 0.130899694 0.0" xyz="0.183585961 0.0 0.075353826"/>
    <axis xyz="0 0 1"/>
    <parent link="upperNeckPitchLink"/>
    <child link="multisense_root_link"/>
  </joint>
  <gazebo reference="multisense_head_root_joint">
    <implicitSpringDamper>1</implicitSpringDamper>
  </gazebo>
  <link name="rightPelvisIMU_Frame">
    <!-- Virtual Link -->
    <inertial>
      <mass value="1e-07"/>
      <origin rpy="0 0 0" xyz="0 0 0"/>
      <inertia ixx="3.33333333333e-22" ixy="0.0" ixz="0.0" iyy="3.33333333333e-22" iyz="0.0" izz="5e-22"/>
    </inertial>
  </link>
  <joint name="rightPelvisIMU_Offset" type="fixed">
    <origin rpy="-1.57 0.0 1.274" xyz="0.0515 -0.115 -0.042"/>
    <axis xyz="0 0 1"/>
    <parent link="pelvis"/>
    <child link="rightPelvisIMU_Frame"/>
  </joint>
  <gazebo reference="rightPelvisIMU_Offset">
    <implicitSpringDamper>1</implicitSpringDamper>
  </gazebo>
  <gazebo reference="rightPelvisIMU_Frame">
    <sensor name="rightPelvisIMU" type="imu">
      <always_on>true</always_on>
      <pose>0.0515 -0.115 -0.042 -1.57 0.0 1.274 </pose>
      <imu>
        <noise>
          <type>gaussian</type>
          <rate>
            <mean>0</mean>
            <stddev>0.0002</stddev>
            <bias_mean>7.5e-06</bias_mean>
            <bias_stddev>8e-07</bias_stddev>
          </rate>
          <accel>
            <mean>0</mean>
            <stddev>0.017</stddev>
            <bias_mean>0.1</bias_mean>
            <bias_stddev>0.001</bias_stddev>
          </accel>
        </noise>
      </imu>
    </sensor>
  </gazebo>
  <link name="leftPelvisIMU_Frame">
    <!-- Virtual Link -->
    <inertial>
      <mass value="1e-07"/>
      <origin rpy="0 0 0" xyz="0 0 0"/>
      <inertia ixx="3.33333333333e-22" ixy="0.0" ixz="0.0" iyy="3.33333333333e-22" iyz="0.0" izz="5e-22"/>
    </inertial>
  </link>
  <joint name="leftPelvisIMU_Offset" type="fixed">
    <origin rpy="1.57 0 -1.274" xyz="0.0515 0.115 -0.042"/>
    <axis xyz="0 0 1"/>
    <parent link="pelvis"/>
    <child link="leftPelvisIMU_Frame"/>
  </joint>
  <gazebo reference="leftPelvisIMU_Offset">
    <implicitSpringDamper>1</implicitSpringDamper>
  </gazebo>
  <gazebo reference="leftPelvisIMU_Frame">
    <sensor name="leftPelvisIMU" type="imu">
      <always_on>true</always_on>
      <pose>0.0515 0.115 -0.042 1.57 0 -1.274 </pose>
      <imu>
        <noise>
          <type>gaussian</type>
          <rate>
            <mean>0</mean>
            <stddev>0.0002</stddev>
            <bias_mean>7.5e-06</bias_mean>
            <bias_stddev>8e-07</bias_stddev>
          </rate>
          <accel>
            <mean>0</mean>
            <stddev>0.017</stddev>
            <bias_mean>0.1</bias_mean>
            <bias_stddev>0.001</bias_stddev>
          </accel>
        </noise>
      </imu>
    </sensor>
  </gazebo>
  <transmission name="torsoYawTransmission">
    <type>transmission_interface/SimpleTransmission</type>
    <joint name="torsoYaw">
      </joint>
    <actuator name="torsoYaw">
      <node name="/trunk/j1"/>
      <mechanicalReduction>1</mechanicalReduction>
      <api name="TurboDriverDRC_v4"/>
    </actuator>
  </transmission>
  <transmission name="WaistTransmission">
    <type>transmission_interface/PushrodTransmission</type>
    <joint name="torsoPitch">
      <role>pitch</role>
    </joint>
    <joint name="torsoRoll">
      <role>roll</role>
    </joint>
    <actuator name="waistLeftActuator">
      <node name="/trunk/waist/left_actuator"/>
      <role>leftActuator</role>
      <mechanicalReduction>1</mechanicalReduction>
      <api name="TurboDriverDRC_v4_linear"/>
    </actuator>
    <actuator name="waistRightActuator">
      <node name="/trunk/waist/right_actuator"/>
      <role>rightActuator</role>
      <mechanicalReduction>1</mechanicalReduction>
      <api name="TurboDriverDRC_v4_linear"/>
    </actuator>
  </transmission>
  <transmission name="leftHipYawTransmission">
    <type>transmission_interface/SimpleTransmission</type>
    <joint name="leftHipYaw">
      </joint>
    <actuator name="leftHipYaw">
      <node name="/left_leg/j1"/>
      <mechanicalReduction>1</mechanicalReduction>
      <api name="TurboDriverDRC_v4"/>
    </actuator>
  </transmission>
  <transmission name="leftHipRollTransmission">
    <type>transmission_interface/SimpleTransmission</type>
    <joint name="leftHipRoll">
      </joint>
    <actuator name="leftHipRoll">
      <node name="/left_leg/j2"/>
      <mechanicalReduction>1</mechanicalReduction>
      <api name="TurboDriverDRC_v4"/>
    </actuator>
  </transmission>
  <transmission name="leftHipPitchTransmission">
    <type>transmission_interface/SimpleTransmission</type>
    <joint name="leftHipPitch">
      </joint>
    <actuator name="leftHipPitch">
      <node name="/left_leg/j3"/>
      <mechanicalReduction>1</mechanicalReduction>
      <api name="TurboDriverDRC_v4"/>
    </actuator>
  </transmission>
  <transmission name="leftKneePitchTransmission">
    <type>transmission_interface/SimpleTransmission</type>
    <joint name="leftKneePitch">
      </joint>
    <actuator name="leftKneePitch">
      <node name="/left_leg/j4"/>
      <mechanicalReduction>1</mechanicalReduction>
      <api name="TurboDriverDRC_v4"/>
    </actuator>
  </transmission>
  <transmission name="leftAnkleTransmission">
    <type>transmission_interface/PushrodTransmission</type>
    <joint name="leftAnklePitch">
      <role>pitch</role>
    </joint>
    <joint name="leftAnkleRoll">
      <role>roll</role>
    </joint>
    <actuator name="leftAnkleInsideActuator">
      <node name="/left_leg/ankle/left_actuator"/>
      <role>insideActuator</role>
      <mechanicalReduction>1</mechanicalReduction>
      <api name="TurboDriverDRC_v4_linear"/>
    </actuator>
    <actuator name="leftAnkleOutsideActuator">
      <node name="/left_leg/ankle/right_actuator"/>
      <role>outsideActuator</role>
      <mechanicalReduction>1</mechanicalReduction>
      <api name="TurboDriverDRC_v4_linear"/>
    </actuator>
  </transmission>
  <transmission name="rightHipYawTransmission">
    <type>transmission_interface/SimpleTransmission</type>
    <joint name="rightHipYaw">
      </joint>
    <actuator name="rightHipYaw">
      <node name="/right_leg/j1"/>
      <mechanicalReduction>1</mechanicalReduction>
      <api name="TurboDriverDRC_v4"/>
    </actuator>
  </transmission>
  <transmission name="rightHipRollTransmission">
    <type>transmission_interface/SimpleTransmission</type>
    <joint name="rightHipRoll">
      </joint>
    <actuator name="rightHipRoll">
      <node name="/right_leg/j2"/>
      <mechanicalReduction>1</mechanicalReduction>
      <api name="TurboDriverDRC_v4"/>
    </actuator>
  </transmission>
  <transmission name="rightHipPitchTransmission">
    <type>transmission_interface/SimpleTransmission</type>
    <joint name="rightHipPitch">
      </joint>
    <actuator name="rightHipPitch">
      <node name="/right_leg/j3"/>
      <mechanicalReduction>1</mechanicalReduction>
      <api name="TurboDriverDRC_v4"/>
    </actuator>
  </transmission>
  <transmission name="rightKneePitchTransmission">
    <type>transmission_interface/SimpleTransmission</type>
    <joint name="rightKneePitch">
      </joint>
    <actuator name="rightKneePitch">
      <node name="/right_leg/j4"/>
      <mechanicalReduction>1</mechanicalReduction>
      <api name="TurboDriverDRC_v4"/>
    </actuator>
  </transmission>
  <transmission name="rightAnkleTransmission">
    <type>transmission_interface/PushrodTransmission</type>
    <joint name="rightAnklePitch">
      <role>pitch</role>
    </joint>
    <joint name="rightAnkleRoll">
      <role>roll</role>
    </joint>
    <actuator name="rightAnkleInsideActuator">
      <node name="/right_leg/ankle/left_actuator"/>
      <role>insideActuator</role>
      <mechanicalReduction>1</mechanicalReduction>
      <api name="TurboDriverDRC_v4_linear"/>
    </actuator>
    <actuator name="rightAnkleOutsideActuator">
      <node name="/right_leg/ankle/right_actuator"/>
      <role>outsideActuator</role>
      <mechanicalReduction>1</mechanicalReduction>
      <api name="TurboDriverDRC_v4_linear"/>
    </actuator>
  </transmission>
  <transmission name="leftShoulderPitchTransmission">
    <type>transmission_interface/SimpleTransmission</type>
    <joint name="leftShoulderPitch">
      </joint>
    <actuator name="leftShoulderPitch">
      <node name="/left_arm/j1"/>
      <mechanicalReduction>1</mechanicalReduction>
      <api name="TurboDriverDRC_v4"/>
    </actuator>
  </transmission>
  <transmission name="leftShoulderRollTransmission">
    <type>transmission_interface/SimpleTransmission</type>
    <joint name="leftShoulderRoll">
      </joint>
    <actuator name="leftShoulderRoll">
      <node name="/left_arm/j2"/>
      <mechanicalReduction>1</mechanicalReduction>
      <api name="TurboDriverDRC_v4"/>
    </actuator>
  </transmission>
  <transmission name="leftShoulderYawTransmission">
    <type>transmission_interface/SimpleTransmission</type>
    <joint name="leftShoulderYaw">
      </joint>
    <actuator name="leftShoulderYaw">
      <node name="/left_arm/j3"/>
      <mechanicalReduction>1</mechanicalReduction>
      <api name="TurboDriverDRC_v4"/>
    </actuator>
  </transmission>
  <transmission name="leftElbowPitchTransmission">
    <type>transmission_interface/SimpleTransmission</type>
    <joint name="leftElbowPitch">
      </joint>
    <actuator name="leftElbowPitch">
      <node name="/left_arm/j4"/>
      <mechanicalReduction>1</mechanicalReduction>
      <api name="TurboDriverDRC_v4"/>
    </actuator>
  </transmission>
  <transmission name="leftForearmYawTransmission">
    <type>transmission_interface/SimpleTransmission</type>
    <joint name="leftForearmYaw">
      </joint>
    <actuator name="leftForearmYaw">
      <node name="/left_arm/j5"/>
      <mechanicalReduction>1</mechanicalReduction>
      <api name="TurboDriverDRC_v4"/>
    </actuator>
  </transmission>
  <transmission name="leftWristTransmission">
    <type>transmission_interface/PushrodTransmission</type>
    <joint name="leftWristPitch">
      <role>roll</role>
    </joint>
    <joint name="leftWristRoll">
      <role>pitch</role>
    </joint>
    <actuator name="leftWristTopActuator">
      <node name="/left_arm/wrist/top_actautor"/>
      <role>actuator1</role>
      <mechanicalReduction>1</mechanicalReduction>
      <api name="WristTopActuatorApi"/>
    </actuator>
    <actuator name="leftWristBottomActuator">
      <node name="/left_arm/wrist/bottom_actuator"/>
      <role>actuator2</role>
      <mechanicalReduction>1</mechanicalReduction>
      <api name="TurboDriverDRC_v4_linear"/>
    </actuator>
  </transmission>
  <transmission name="rightShoulderPitchTransmission">
    <type>transmission_interface/SimpleTransmission</type>
    <joint name="rightShoulderPitch">
      </joint>
    <actuator name="rightShoulderPitch">
      <node name="/right_arm/j1"/>
      <mechanicalReduction>1</mechanicalReduction>
      <api name="TurboDriverDRC_v4"/>
    </actuator>
  </transmission>
  <transmission name="rightShoulderRollTransmission">
    <type>transmission_interface/SimpleTransmission</type>
    <joint name="rightShoulderRoll">
      </joint>
    <actuator name="rightShoulderRoll">
      <node name="/right_arm/j2"/>
      <mechanicalReduction>1</mechanicalReduction>
      <api name="TurboDriverDRC_v4"/>
    </actuator>
  </transmission>
  <transmission name="rightShoulderYawTransmission">
    <type>transmission_interface/SimpleTransmission</type>
    <joint name="rightShoulderYaw">
      </joint>
    <actuator name="rightShoulderYaw">
      <node name="/right_arm/j3"/>
      <mechanicalReduction>1</mechanicalReduction>
      <api name="TurboDriverDRC_v4"/>
    </actuator>
  </transmission>
  <transmission name="rightElbowPitchTransmission">
    <type>transmission_interface/SimpleTransmission</type>
    <joint name="rightElbowPitch">
      </joint>
    <actuator name="rightElbowPitch">
      <node name="/right_arm/j4"/>
      <mechanicalReduction>1</mechanicalReduction>
      <api name="TurboDriverDRC_v4"/>
    </actuator>
  </transmission>
  <transmission name="rightForearmYawTransmission">
    <type>transmission_interface/SimpleTransmission</type>
    <joint name="rightForearmYaw">
      </joint>
    <actuator name="rightForearmYaw">
      <node name="/right_arm/j5"/>
      <mechanicalReduction>1</mechanicalReduction>
      <api name="TurboDriverDRC_v4"/>
    </actuator>
  </transmission>
  <transmission name="rightWristTransmission">
    <type>transmission_interface/PushrodTransmission</type>
    <joint name="rightWristPitch">
      <role>roll</role>
    </joint>
    <joint name="rightWristRoll">
      <role>pitch</role>
    </joint>
    <actuator name="rightWristTopActuator">
      <node name="/right_arm/wrist/top_actautor"/>
      <role>actuator1</role>
      <mechanicalReduction>1</mechanicalReduction>
      <api name="WristTopActuatorApi"/>
    </actuator>
    <actuator name="rightWristBottomActuator">
      <node name="/right_arm/wrist/bottom_actuator"/>
      <role>actuator2</role>
      <mechanicalReduction>1</mechanicalReduction>
      <api name="TurboDriverDRC_v4_linear"/>
    </actuator>
  </transmission>
  <transmission name="lowerNeckPitchTransmission">
    <type>transmission_interface/SimpleTransmission</type>
    <joint name="lowerNeckPitch">
      </joint>
    <actuator name="lowerNeckPitch">
      <node name="/neck/j1"/>
      <mechanicalReduction>1</mechanicalReduction>
      <api name="TurboDriverDRC_v4"/>
    </actuator>
  </transmission>
  <transmission name="neckYawTransmission">
    <type>transmission_interface/SimpleTransmission</type>
    <joint name="neckYaw">
      </joint>
    <actuator name="neckYaw">
      <node name="/neck/j2"/>
      <mechanicalReduction>1</mechanicalReduction>
      <api name="TurboDriverDRC_v4"/>
    </actuator>
  </transmission>
  <transmission name="upperNeckPitchTransmission">
    <type>transmission_interface/SimpleTransmission</type>
    <joint name="upperNeckPitch">
      </joint>
    <actuator name="upperNeckPitch">
      <node name="/neck/j3"/>
      <mechanicalReduction>1</mechanicalReduction>
      <api name="TurboDriverDRC_v4"/>
    </actuator>
  </transmission>
</robot>
